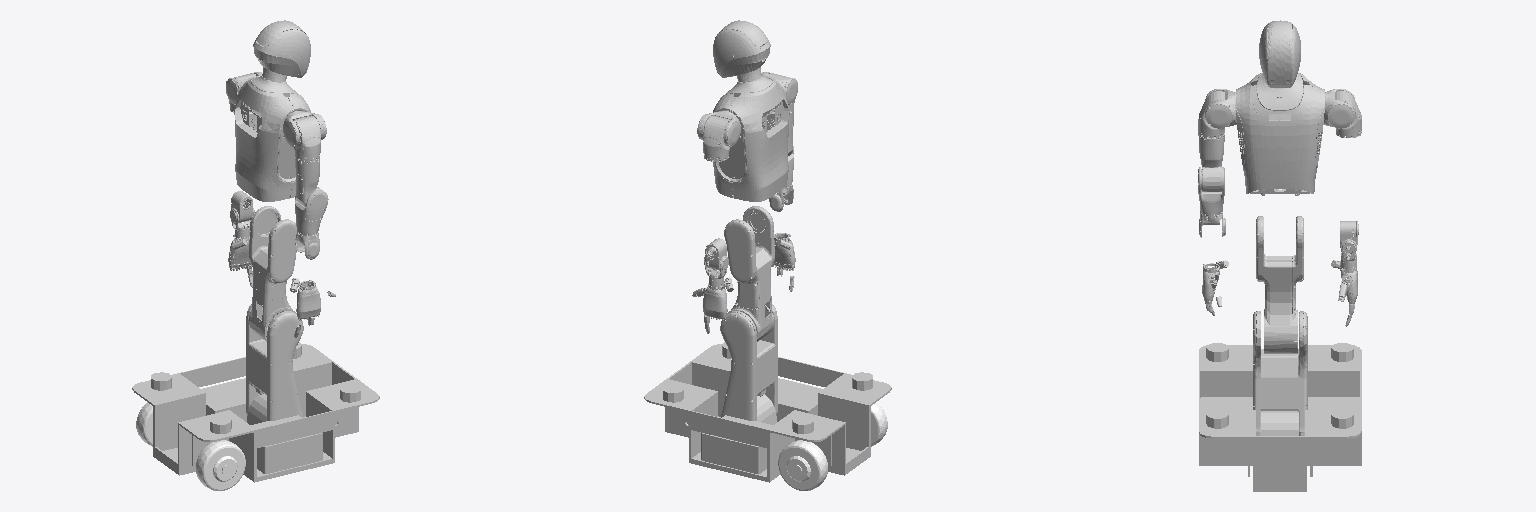
--- What the picture shows (computed from the rendered views, not written in the file) ---
The picture shows the robot from 3 angles, left to right: view 1: azimuth 30°, elevation 25°; view 2: azimuth 150°, elevation 25°; view 3: azimuth 270°, elevation 25°; orthographic projection.
Robot: M92UW — 91 links, 90 joints (44 revolute, 46 fixed); root link base_footprint; default pose: all joints at 0.
Visible links, largest first — view 1: base_link, trunk_link, ankle_p_link, knee_p_link, head2_p_link, rb_wheel_link, r_arm4_elbow_p_link, r_arm2_shoulder_r_link, r_arm3_shoulder_y_link, r_hand_palm_link, r_arm1_shoulder_p_link, lb_wheel_link; view 2: base_link, trunk_link, ankle_p_link, knee_p_link, head2_p_link, lb_wheel_link, l_arm2_shoulder_r_link, l_hand_palm_link, l_arm1_shoulder_p_link, r_hand_palm_link, rb_wheel_link; view 3: base_link, trunk_link, knee_p_link, ankle_p_link, head2_p_link, r_arm3_shoulder_y_link, r_arm1_shoulder_p_link, l_arm1_shoulder_p_link, r_arm4_elbow_p_link, l_arm2_shoulder_r_link, r_arm2_shoulder_r_link.
Boxes of the visible links, x1,y1,x2,y2 form: base_link: [132, 342, 379, 482]; trunk_link: [234, 76, 310, 201]; ankle_p_link: [246, 304, 303, 420]; knee_p_link: [249, 206, 296, 341]; head2_p_link: [253, 20, 310, 77]; rb_wheel_link: [196, 440, 245, 490]; r_arm4_elbow_p_link: [295, 190, 328, 235]; r_arm2_shoulder_r_link: [293, 115, 320, 161]; r_arm3_shoulder_y_link: [295, 158, 320, 207]; r_hand_palm_link: [296, 281, 320, 320]; r_arm1_shoulder_p_link: [283, 111, 326, 146]; lb_wheel_link: [136, 402, 152, 446]; base_link: [644, 342, 891, 482]; trunk_link: [713, 76, 789, 201]; ankle_p_link: [720, 304, 777, 420]; knee_p_link: [724, 206, 774, 341]; head2_p_link: [713, 20, 770, 77]; lb_wheel_link: [778, 440, 827, 490]; l_arm2_shoulder_r_link: [703, 116, 730, 161]; l_hand_palm_link: [703, 285, 727, 320]; l_arm1_shoulder_p_link: [697, 111, 740, 146]; r_hand_palm_link: [772, 233, 795, 270]; rb_wheel_link: [871, 402, 887, 446]; base_link: [1199, 343, 1361, 491]; trunk_link: [1236, 72, 1324, 195]; knee_p_link: [1256, 216, 1303, 353]; ankle_p_link: [1253, 311, 1307, 435]; head2_p_link: [1259, 20, 1300, 87]; r_arm3_shoulder_y_link: [1198, 134, 1224, 191]; r_arm1_shoulder_p_link: [1205, 89, 1236, 128]; l_arm1_shoulder_p_link: [1324, 89, 1354, 128]; r_arm4_elbow_p_link: [1198, 167, 1224, 215]; l_arm2_shoulder_r_link: [1335, 91, 1361, 137]; r_arm2_shoulder_r_link: [1198, 91, 1224, 138].
Bounding box of the posed robot: 0.8 × 0.6044 × 1.8 m (x, y, z).
Meshes: 57 distinct files referenced, 31 mesh visuals loaded (31 binary STL); not drawn: 26 (reference not matched to a file when rendering).

URDF robot description (M92UW):
<?xml version="1.0" ?>
<robot name="M92UW">
  <link name="base_footprint">
            </link>
  <joint name="base_footprint_fixed_joint" type="fixed">
    <parent link="base_footprint" />
    <child link="base_link" />
    <origin rpy="0 0 0" xyz="0 0 0.131" />
  </joint>
  <link name="base_link">
    <visual name="base_link_vis">
      <geometry>
        <mesh filename="../meshes/M92UW/visual/base_link.stl" scale="1e-3 1e-3 1e-3" />
      </geometry>
      <material name="metal">
        <color rgba="0.85 0.85 0.85 1" />
      </material>
    </visual>
    <collision name="base_link_col">
      <geometry>
        <mesh filename="../meshes/M92UW/collision/base_link.stl" scale="1e-3 1e-3 1e-3" />
      </geometry>
    </collision>
    <inertial>
      <origin rpy="0.0 0.0 0.0" xyz="0.013367658 0 -0.015095836" />
      <mass value="74.786285" />
      <inertia ixx="2.5701579" ixy="0" ixz="-0.015531692" iyy="2.4786102" iyz="0" izz="4.3899894" />
    </inertial>
  </link>
  <link name="lf_wheel_link">
    <visual name="lf_wheel_link_vis">
      <geometry>
        <mesh filename="../meshes/M92UW/visual/lf_wheel_link.stl" scale="1e-3 1e-3 1e-3" />
      </geometry>
      <material name="carbon">
        <color rgba="1 1 1 1" />
        <texture filename="package://human_description/textures/carbon.png" />
      </material>
    </visual>
    <collision name="lf_wheel_link_col">
      <geometry>
        <mesh filename="../meshes/M92UW/collision/lf_wheel_link.stl" scale="1e-3 1e-3 1e-3" />
      </geometry>
    </collision>
    <inertial>
      <origin rpy="0.0 0.0 0.0" xyz="0 0.10966209 0" />
      <mass value="1.1156517" />
      <inertia ixx="0.0030579042" ixy="0" ixz="0" iyy="0.0050380481" iyz="0" izz="0.0030579069" />
    </inertial>
  </link>
  <joint name="lf_wheel_joint" type="fixed">
    <parent link="base_link" />
    <child link="lf_wheel_link" />
    <origin rpy="0.0 0.0 0.0" xyz="0.29 0.12 -0.03" />
    <axis xyz="0 1 0" />
  </joint>
  <link name="lb_wheel_link">
    <visual name="lb_wheel_link_vis">
      <geometry>
        <mesh filename="../meshes/M92UW/visual/lb_wheel_link.stl" scale="1e-3 1e-3 1e-3" />
      </geometry>
      <material name="carbon">
        <color rgba="1 1 1 1" />
        <texture filename="package://human_description/textures/carbon.png" />
      </material>
    </visual>
    <collision name="lb_wheel_link_col">
      <geometry>
        <mesh filename="../meshes/M92UW/collision/lb_wheel_link.stl" scale="1e-3 1e-3 1e-3" />
      </geometry>
    </collision>
    <inertial>
      <origin rpy="0.0 0.0 0.0" xyz="0 0.10966209 0" />
      <mass value="1.1156517" />
      <inertia ixx="0.0030579042" ixy="0" ixz="0" iyy="0.0050380481" iyz="0" izz="0.0030579069" />
    </inertial>
  </link>
  <joint name="lb_wheel_joint" type="fixed">
    <parent link="base_link" />
    <child link="lb_wheel_link" />
    <origin rpy="0.0 0.0 0.0" xyz="-0.29 0.12 -0.03" />
    <axis xyz="0 1 0" />
  </joint>
  <link name="rf_wheel_link">
    <visual name="rf_wheel_link_vis">
      <geometry>
        <mesh filename="../meshes/M92UW/visual/rf_wheel_link.stl" scale="1e-3 1e-3 1e-3" />
      </geometry>
      <material name="carbon">
        <color rgba="1 1 1 1" />
        <texture filename="package://human_description/textures/carbon.png" />
      </material>
    </visual>
    <collision name="rf_wheel_link_col">
      <geometry>
        <mesh filename="../meshes/M92UW/collision/rf_wheel_link.stl" scale="1e-3 1e-3 1e-3" />
      </geometry>
    </collision>
    <inertial>
      <origin rpy="0.0 0.0 0.0" xyz="0 -0.10966209 0" />
      <mass value="1.1156517" />
      <inertia ixx="0.0030579042" ixy="0" ixz="0" iyy="0.0050380481" iyz="0" izz="0.0030579069" />
    </inertial>
  </link>
  <joint name="rf_wheel_joint" type="fixed">
    <parent link="base_link" />
    <child link="rf_wheel_link" />
    <origin rpy="0.0 0.0 0.0" xyz="0.29 -0.12 -0.03" />
    <axis xyz="0 1 0" />
  </joint>
  <link name="rb_wheel_link">
    <visual name="rb_wheel_link_vis">
      <geometry>
        <mesh filename="../meshes/M92UW/visual/rb_wheel_link.stl" scale="1e-3 1e-3 1e-3" />
      </geometry>
      <material name="carbon">
        <color rgba="1 1 1 1" />
        <texture filename="package://human_description/textures/carbon.png" />
      </material>
    </visual>
    <collision name="rb_wheel_link_col">
      <geometry>
        <mesh filename="../meshes/M92UW/collision/rb_wheel_link.stl" scale="1e-3 1e-3 1e-3" />
      </geometry>
    </collision>
    <inertial>
      <origin rpy="0.0 0.0 0.0" xyz="0 -0.10966209 0" />
      <mass value="1.1156517" />
      <inertia ixx="0.0030579042" ixy="0" ixz="0" iyy="0.0050380481" iyz="0" izz="0.0030579069" />
    </inertial>
  </link>
  <joint name="rb_wheel_joint" type="fixed">
    <parent link="base_link" />
    <child link="rb_wheel_link" />
    <origin rpy="0.0 0.0 0.0" xyz="-0.29 -0.12 -0.03" />
    <axis xyz="0 1 0" />
  </joint>
  <link name="ankle_p_link">
    <visual name="ankle_p_link_vis">
      <geometry>
        <mesh filename="../meshes/M92UW/visual/ankle_p_link.stl" scale="1e-3 1e-3 1e-3" />
      </geometry>
      <material name="metal">
        <color rgba="0.85 0.85 0.85 1" />
      </material>
    </visual>
    <collision name="ankle_p_link_col">
      <geometry>
        <mesh filename="../meshes/M92UW/collision/ankle_p_link.stl" scale="1e-3 1e-3 1e-3" />
      </geometry>
    </collision>
    <inertial>
      <origin rpy="0.0 0.0 0.0" xyz="0 0.00031353654 0.2" />
      <mass value="5.0014729" />
      <inertia ixx="0.12742424" ixy="0.0" ixz="0.0" iyy="0.11078527" iyz="0.0" izz="0.040523373" />
    </inertial>
  </link>
  <joint name="ankle_p_joint" type="revolute">
    <parent link="base_link" />
    <child link="ankle_p_link" />
    <origin rpy="0.0 0.0 0.0" xyz="0.085 0.0 0.0" />
    <axis xyz="0 1 0" />
    <limit effort="436.0" lower="-1.5707963267948966" upper="0.05235987755982988" velocity="2.51" />
    <safety_controller k_position="121.0" k_velocity="540.0" soft_lower_limit="-1.5184364492350666" soft_upper_limit="0.0" />
    <dynamics damping="3.48" friction="20.65" />
  </joint>
  <link name="knee_p_link">
    <visual name="knee_p_link_vis">
      <geometry>
        <mesh filename="../meshes/M92UW/visual/knee_p_link.stl" scale="1e-3 1e-3 1e-3" />
      </geometry>
      <material name="metal">
        <color rgba="0.85 0.85 0.85 1" />
      </material>
    </visual>
    <collision name="knee_p_link_col">
      <geometry>
        <mesh filename="../meshes/M92UW/collision/knee_p_link.stl" scale="1e-3 1e-3 1e-3" />
      </geometry>
    </collision>
    <inertial>
      <origin rpy="0.0 0.0 0.0" xyz="-0.00017250466 -5.7499427e-05 0.091520826" />
      <mass value="9.9995835" />
      <inertia ixx="0.17718143" ixy="3.3078853e-07" ixz="0.00019537528" iyy="0.17966307" iyz="6.5114089e-05" izz="0.038209575" />
    </inertial>
  </link>
  <joint name="knee_p_joint" type="revolute">
    <parent link="ankle_p_link" />
    <child link="knee_p_link" />
    <origin rpy="0.0 0.0 0.0" xyz="0.0 0.0 0.4" />
    <axis xyz="0 1 0" />
    <limit effort="436.0" lower="-0.05235987755982988" upper="2.7768188399229783" velocity="2.51" />
    <safety_controller k_position="121.0" k_velocity="540.0" soft_lower_limit="0.0" soft_upper_limit="2.724458962363148" />
    <dynamics damping="3.48" friction="20.65" />
  </joint>
  <ros2_control name="leg_system" type="system">
    <hardware>
      <plugin>fake_components/GenericSystem</plugin>
    </hardware>
    <joint name="ankle_p_joint">
      <param name="initial_position">0.0</param>
      <command_interface name="position" />
      <state_interface name="position">
        <param name="initial_value">0.0</param>
      </state_interface>
      <state_interface name="velocity" />
      <state_interface name="effort" />
    </joint>
    <transmission name="ankle_p_transmission">
      <plugin>transmission_interface/SimpleTransmission</plugin>
      <joint name="ankle_p_joint" role="joint1">
        <mechanical_reduction>1.0</mechanical_reduction>
        <offset>0</offset>
      </joint>
      <actuator name="ankle_p_actuator" role="actuator1">
        <mechanical_reduction>1.0</mechanical_reduction>
        <offset>0</offset>
      </actuator>
    </transmission>
    <joint name="knee_p_joint">
      <param name="initial_position">0.0</param>
      <command_interface name="position" />
      <state_interface name="position">
        <param name="initial_value">0.0</param>
      </state_interface>
      <state_interface name="velocity" />
      <state_interface name="effort" />
    </joint>
    <transmission name="knee_p_transmission">
      <plugin>transmission_interface/SimpleTransmission</plugin>
      <joint name="knee_p_joint" role="joint1">
        <mechanical_reduction>1.0</mechanical_reduction>
        <offset>0</offset>
      </joint>
      <actuator name="knee_p_actuator" role="actuator1">
        <mechanical_reduction>1.0</mechanical_reduction>
        <offset>0</offset>
      </actuator>
    </transmission>
  </ros2_control>
  <link name="waist1_p_link">
    <visual name="waist1_p_link_vis">
      <geometry>
        <mesh filename="../meshes/M92UW/visual/waist1_p_link.stl" scale="1e-3 1e-3 1e-3" />
      </geometry>
      <material name="metal">
        <color rgba="0.85 0.85 0.85 1" />
      </material>
    </visual>
    <collision name="waist1_p_link_col">
      <geometry>
        <mesh filename="../meshes/M92UW/collision/waist1_p_link.stl" scale="1e-3 1e-3 1e-3" />
      </geometry>
    </collision>
    <inertial>
      <origin rpy="0.0 0.0 0.0" xyz="0 0 0.057429778" />
      <mass value="6.3049221" />
      <inertia ixx="0.029907033" ixy="0" ixz="0" iyy="0.031745346" iyz="0" izz="0.012330906" />
    </inertial>
  </link>
  <joint name="waist1_p_joint" type="revolute">
    <parent link="knee_p_link" />
    <child link="waist1_p_link" />
    <origin rpy="0.0 0.0 0.0" xyz="0.0 0.0 0.4" />
    <axis xyz="0 1 0" />
    <limit effort="207.0" lower="-2.2689280275926285" upper="2.2689280275926285" velocity="3.14" />
    <safety_controller k_position="121.0" k_velocity="540.0" soft_lower_limit="-2.2165681500327987" soft_upper_limit="2.2165681500327987" />
    <dynamics damping="3.48" friction="20.65" />
  </joint>
  <link name="waist2_y_link">
    <visual name="waist2_y_link_vis">
      <geometry>
        <mesh filename="../meshes/M92UW/visual/waist2_y_link.stl" scale="1e-3 1e-3 1e-3" />
      </geometry>
      <material name="metal">
        <color rgba="0.85 0.85 0.85 1" />
      </material>
    </visual>
    <collision name="waist2_y_link_col">
      <geometry>
        <mesh filename="../meshes/M92UW/collision/waist2_y_link.stl" scale="1e-3 1e-3 1e-3" />
      </geometry>
    </collision>
    <inertial>
      <origin rpy="0.0 0.0 0.0" xyz="0 0 0.17307869" />
      <mass value="0.70904416" />
      <inertia ixx="0.0010443308" ixy="0" ixz="0" iyy="0.0010443307" iyz="0" izz="0.002054833" />
    </inertial>
  </link>
  <joint name="waist2_y_joint" type="revolute">
    <parent link="waist1_p_link" />
    <child link="waist2_y_link" />
    <origin rpy="0.0 0.0 0.0" xyz="0.0 0.0 0.0" />
    <axis xyz="0 0 1" />
    <limit effort="207.0" lower="-1.5707963267948966" upper="1.5707963267948966" velocity="3.14" />
    <safety_controller k_position="121.0" k_velocity="540.0" soft_lower_limit="-1.5184364492350666" soft_upper_limit="1.5184364492350666" />
    <dynamics damping="3.48" friction="20.65" />
  </joint>
  <link name="trunk_link">
    <visual name="trunk_link_vis">
      <geometry>
        <mesh filename="../meshes/M92UW/visual/trunk_link.stl" scale="1e-3 1e-3 1e-3" />
      </geometry>
      <material name="metal">
        <color rgba="0.85 0.85 0.85 1" />
      </material>
    </visual>
    <collision name="trunk_link_col">
      <geometry>
        <mesh filename="../meshes/M92UW/collision/trunk_link.stl" scale="1e-3 1e-3 1e-3" />
      </geometry>
    </collision>
    <inertial>
      <origin rpy="0.0 0.0 0.0" xyz="-0.0085487881 -9.606895e-06 -0.077759044" />
      <mass value="12.350557" />
      <inertia ixx="0.35316138" ixy="-1.0848429e-05" ixz="-0.010659045" iyy="0.26640983" iyz="8.9227842e-06" izz="0.20173237" />
    </inertial>
  </link>
  <joint name="trunk_fixed_joint" type="fixed">
    <parent link="waist2_y_link" />
    <child link="trunk_link" />
    <origin rpy="0.0 0.0 0.0" xyz="0.0 0.0 0.510000061" />
    <axis xyz="0 0 1" />
  </joint>
  <ros2_control name="waist_system" type="system">
    <hardware>
      <plugin>fake_components/GenericSystem</plugin>
    </hardware>
    <joint name="waist1_p_joint">
      <param name="initial_position">0.0</param>
      <command_interface name="position" />
      <state_interface name="position">
        <param name="initial_value">0.0</param>
      </state_interface>
      <state_interface name="velocity" />
      <state_interface name="effort" />
    </joint>
    <transmission name="waist1_p_transmission">
      <plugin>transmission_interface/SimpleTransmission</plugin>
      <joint name="waist1_p_joint" role="joint1">
        <mechanical_reduction>1.0</mechanical_reduction>
        <offset>0</offset>
      </joint>
      <actuator name="waist1_p_actuator" role="actuator1">
        <mechanical_reduction>1.0</mechanical_reduction>
        <offset>0</offset>
      </actuator>
    </transmission>
    <joint name="waist2_y_joint">
      <param name="initial_position">0.0</param>
      <command_interface name="position" />
      <state_interface name="position">
        <param name="initial_value">0.0</param>
      </state_interface>
      <state_interface name="velocity" />
      <state_interface name="effort" />
    </joint>
    <transmission name="waist2_y_transmission">
      <plugin>transmission_interface/SimpleTransmission</plugin>
      <joint name="waist2_y_joint" role="joint1">
        <mechanical_reduction>1.0</mechanical_reduction>
        <offset>0</offset>
      </joint>
      <actuator name="waist2_y_actuator" role="actuator1">
        <mechanical_reduction>1.0</mechanical_reduction>
        <offset>0</offset>
      </actuator>
    </transmission>
  </ros2_control>
  <link name="head1_y_link">
    <visual name="head1_y_link_vis">
      <geometry>
        <mesh filename="../meshes/M92UW/visual/head1_y_link.stl" scale="1e-3 1e-3 1e-3" />
      </geometry>
      <material name="metal">
        <color rgba="0.85 0.85 0.85 1" />
      </material>
    </visual>
    <collision name="head1_y_link_col">
      <geometry>
        <mesh filename="../meshes/M92UW/collision/head1_y_link.stl" scale="1e-3 1e-3 1e-3" />
      </geometry>
    </collision>
    <inertial>
      <origin rpy="0.0 0.0 0.0" xyz="0 0 0" />
      <mass value="0.9701721487615899" />
      <inertia ixx="0.002353602425794535" ixy="-1.5047554446877549e-06" ixz="9.720103999911807e-07" iyy="0.0023108930597505323" iyz="-5.8260809010239775e-05" izz="0.0008192659356165283" />
    </inertial>
  </link>
  <joint name="head1_y_joint" type="revolute">
    <parent link="trunk_link" />
    <child link="head1_y_link" />
    <origin rpy="0.0 0.227 0.0" xyz="0.00825076246 0.0 0.187487518331" />
    <axis xyz="0 0 1" />
    <limit effort="16.0" lower="-0.7853981633974483" upper="0.7853981633974483" velocity="6.0" />
    <safety_controller k_position="121.0" k_velocity="540.0" soft_lower_limit="-0.7330382858376184" soft_upper_limit="0.7330382858376184" />
    <dynamics damping="1.75" friction="1.48" />
  </joint>
  <link name="head2_p_link">
    <visual name="head2_p_link_vis">
      <geometry>
        <mesh filename="../meshes/M92UW/visual/head2_p_link.stl" scale="1e-3 1e-3 1e-3" />
      </geometry>
      <material name="metal">
        <color rgba="0.85 0.85 0.85 1" />
      </material>
    </visual>
    <collision name="head2_p_link_col">
      <geometry>
        <mesh filename="../meshes/M92UW/collision/head2_p_link.stl" scale="1e-3 1e-3 1e-3" />
      </geometry>
    </collision>
    <inertial>
      <origin rpy="0.0 0.0 0.0" xyz="0.023983628 -3.4088057e-05 0.060004983" />
      <mass value="1.4412722" />
      <inertia ixx="0.0051107798" ixy="-5.4733507e-05" ixz="0.001174679" iyy="0.0074364813" iyz="3.6514141e-05" izz="0.0066131559" />
    </inertial>
  </link>
  <joint name="head2_p_joint" type="revolute">
    <parent link="head1_y_link" />
    <child link="head2_p_link" />
    <origin rpy="0.0 0.0 0.0" xyz="0.0 0.0 0.0" />
    <axis xyz="0 1 0" />
    <limit effort="15.0" lower="-0.3490658503988659" upper="0.2617993877991494" velocity="8.0" />
    <safety_controller k_position="121.0" k_velocity="540.0" soft_lower_limit="-0.29670597283903605" soft_upper_limit="0.20943951023931953" />
    <dynamics damping="1.75" friction="1.48" />
  </joint>
  <link name="head_front_left_fishye_color_frame" />
  <joint name="head_front_left_fishye_color_joint" type="fixed">
    <parent link="head2_p_link" />
    <child link="head_front_left_fishye_color_frame" />
    <origin rpy="0.0 0.034906558 0.0" xyz="0.11560924285 0.03 0.001949777401" />
    <axis xyz="0 0 1" />
  </joint>
  <link name="head_front_left_fishye_color_optical_frame" />
  <joint name="head_front_left_fishye_color_optical_joint" type="fixed">
    <parent link="head_front_left_fishye_color_frame" />
    <child link="head_front_left_fishye_color_optical_frame" />
    <origin rpy="-1.5707963267948966 0.0 -1.5707963267948966" xyz="0.0 0.0 0.0" />
    <axis xyz="0 0 1" />
  </joint>
  <link name="head_front_right_fishye_color_frame" />
  <joint name="head_front_right_fishye_color_joint" type="fixed">
    <parent link="head2_p_link" />
    <child link="head_front_right_fishye_color_frame" />
    <origin rpy="0.0 0.034906558 0.0" xyz="0.11560924285 -0.03 0.001949777401" />
    <axis xyz="0 0 1" />
  </joint>
  <link name="head_front_right_fishye_color_optical_frame" />
  <joint name="head_front_right_fishye_color_optical_joint" type="fixed">
    <parent link="head_front_right_fishye_color_frame" />
    <child link="head_front_right_fishye_color_optical_frame" />
    <origin rpy="-1.5707963267948966 0.0 -1.5707963267948966" xyz="0.0 0.0 0.0" />
    <axis xyz="0 0 1" />
  </joint>
  <link name="head_left_fishye_color_frame" />
  <joint name="head_left_fishye_color_joint" type="fixed">
    <parent link="head2_p_link" />
    <child link="head_left_fishye_color_frame" />
    <origin rpy="-0.22689279888888889 0.0 1.5707963" xyz="8e-05 0.079054996528 0.068" />
    <axis xyz="0 0 1" />
  </joint>
  <link name="head_left_fishye_color_optical_frame" />
  <joint name="head_left_fishye_color_optical_joint" type="fixed">
    <parent link="head_left_fishye_color_frame" />
    <child link="head_left_fishye_color_optical_frame" />
    <origin rpy="-1.5707963267948966 0.0 -1.5707963267948966" xyz="0.0 0.0 0.0" />
    <axis xyz="0 0 1" />
  </joint>
  <link name="head_right_fishye_color_frame" />
  <joint name="head_right_fishye_color_joint" type="fixed">
    <parent link="head2_p_link" />
    <child link="head_right_fishye_color_frame" />
    <origin rpy="0.22689279888888889 0.0 -1.5707963" xyz="8e-05 -0.079054996528 0.068" />
    <axis xyz="0 0 1" />
  </joint>
  <link name="head_right_fishye_color_optical_frame" />
  <joint name="head_right_fishye_color_optical_joint" type="fixed">
    <parent link="head_right_fishye_color_frame" />
    <child link="head_right_fishye_color_optical_frame" />
    <origin rpy="-1.5707963267948966 0.0 -1.5707963267948966" xyz="0.0 0.0 0.0" />
    <axis xyz="0 0 1" />
  </joint>
  <link name="head_imu_frame" />
  <joint name="head_imu_joint" type="fixed">
    <parent link="head2_p_link" />
    <child link="head_imu_frame" />
    <origin rpy="-1.5707963 0.0 -1.5707963" xyz="0.10135 0.030741428 0.045873980003" />
    <axis xyz="0 0 1" />
  </joint>
  <link name="head_realsense_frame" />
  <joint name="head_realsense_joint" type="fixed">
    <parent link="head2_p_link" />
    <child link="head_realsense_frame" />
    <origin rpy="0.0 0.6108652277777777 0.0" xyz="0.087368495194 0.0 -0.027541394905" />
    <axis xyz="0 0 1" />
  </joint>
  <sensor id="head_imu" name="head_imu" type="imu" update_rate="100.0">
    <parent link="head_imu_frame" />
    <origin rpy="0 0 0" xyz="0 0 0" />
  </sensor>
  
  <joint name="head_camera_joint" type="fixed">
    <origin rpy="0 0 0" xyz="0 0 0" />
    <parent link="head_realsense_frame" />
    <child link="head_camera_bottom_screw_frame" />
  </joint>
  <link name="head_camera_bottom_screw_frame" />
  <joint name="head_camera_link_joint" type="fixed">
    <origin rpy="0 0 0" xyz="0.010600000000000002 0.0175 0.0125" />
    <parent link="head_camera_bottom_screw_frame" />
    <child link="head_camera_link" />
  </joint>
  <link name="head_camera_link">
    <visual name="head_camera_link_vis">
      
      <origin rpy="0 0 0" xyz="0.0043 -0.0175 0" />
      <geometry>
        <mesh filename="../meshes/camera/d435.stl" />
      </geometry>
      <material name="aluminum">
        <color rgba="0.5 0.5 0.5 1" />
      </material>
    </visual>
    <collision name="head_camera_link_col">
      <origin rpy="0 0 0" xyz="-0.0043 -0.0175 0" />
      <geometry>
        <box size="0.02505 0.09 0.025" />
      </geometry>
    </collision>
    <inertial>
      
      <mass value="0.072" />
      <origin rpy="0 0 0" xyz="-0.0043 -0.0175 0" />
      <inertia ixx="4.41106250E-05" ixy="2.63787168E-07" ixz="2.62460083E-08" iyy="6.59575833E-06" iyz="-3.13712429E-09" izz="4.44598902E-05" />
    </inertial>
  </link>
  
  <joint name="head_camera_depth_joint" type="fixed">
    <origin rpy="0 0 0" xyz="0 0 0" />
    <parent link="head_camera_link" />
    <child link="head_camera_depth_frame" />
  </joint>
  <link name="head_camera_depth_frame" />
  <joint name="head_camera_depth_optical_joint" type="fixed">
    <origin rpy="-1.5707963267948966 0 -1.5707963267948966" xyz="0 0 0" />
    <parent link="head_camera_depth_frame" />
    <child link="head_camera_depth_optical_frame" />
  </joint>
  <link name="head_camera_depth_optical_frame" />
  
  <joint name="head_camera_infra1_joint" type="fixed">
    <origin rpy="0 0 0" xyz="0 0.0 0" />
    <parent link="head_camera_link" />
    <child link="head_camera_infra1_frame" />
  </joint>
  <link name="head_camera_infra1_frame" />
  <joint name="head_camera_infra1_optical_joint" type="fixed">
    <origin rpy="-1.5707963267948966 0 -1.5707963267948966" xyz="0 0 0" />
    <parent link="head_camera_infra1_frame" />
    <child link="head_camera_infra1_optical_frame" />
  </joint>
  <link name="head_camera_infra1_optical_frame" />
  
  <joint name="head_camera_infra2_joint" type="fixed">
    <origin rpy="0 0 0" xyz="0 -0.05 0" />
    <parent link="head_camera_link" />
    <child link="head_camera_infra2_frame" />
  </joint>
  <link name="head_camera_infra2_frame" />
  <joint name="head_camera_infra2_optical_joint" type="fixed">
    <origin rpy="-1.5707963267948966 0 -1.5707963267948966" xyz="0 0 0" />
    <parent link="head_camera_infra2_frame" />
    <child link="head_camera_infra2_optical_frame" />
  </joint>
  <link name="head_camera_infra2_optical_frame" />
  
  <joint name="head_camera_color_joint" type="fixed">
    <origin rpy="0 0 0" xyz="0 0.015 0" />
    <parent link="head_camera_link" />
    <child link="head_camera_color_frame" />
  </joint>
  <link name="head_camera_color_frame" />
  <joint name="head_camera_color_optical_joint" type="fixed">
    <origin rpy="-1.5707963267948966 0 -1.5707963267948966" xyz="0 0 0" />
    <parent link="head_camera_color_frame" />
    <child link="head_camera_color_optical_frame" />
  </joint>
  <link name="head_camera_color_optical_frame" />
  <link name="head_camera_accel_frame" />
  <link name="head_camera_accel_optical_frame" />
  <link name="head_camera_gyro_frame" />
  <link name="head_camera_gyro_optical_frame" />
  <joint name="head_camera_accel_joint" type="fixed">
    <origin rpy="0 0 0" xyz="-0.01174 -0.00552 0.0051" />
    <parent link="head_camera_link" />
    <child link="head_camera_accel_frame" />
  </joint>
  <joint name="head_camera_accel_optical_joint" type="fixed">
    <origin rpy="-1.5707963267948966 0 -1.5707963267948966" xyz="0 0 0" />
    <parent link="head_camera_accel_frame" />
    <child link="head_camera_accel_optical_frame" />
  </joint>
  <joint name="head_camera_gyro_joint" type="fixed">
    <origin rpy="0 0 0" xyz="-0.01174 -0.00552 0.0051" />
    <parent link="head_camera_link" />
    <child link="head_camera_gyro_frame" />
  </joint>
  <joint name="head_camera_gyro_optical_joint" type="fixed">
    <origin rpy="-1.5707963267948966 0 -1.5707963267948966" xyz="0 0 0" />
    <parent link="head_camera_gyro_frame" />
    <child link="head_camera_gyro_optical_frame" />
  </joint>
  <ros2_control name="head_system" type="system">
    <hardware>
      <plugin>fake_components/GenericSystem</plugin>
    </hardware>
    <joint name="head1_y_joint">
      <param name="initial_position">0.0</param>
      <command_interface name="position" />
      <state_interface name="position">
        <param name="initial_value">0.0</param>
      </state_interface>
      <state_interface name="velocity" />
      <state_interface name="effort" />
    </joint>
    <transmission name="head1_y_transmission">
      <plugin>transmission_interface/SimpleTransmission</plugin>
      <joint name="head1_y_joint" role="joint1">
        <mechanical_reduction>1.0</mechanical_reduction>
        <offset>0</offset>
      </joint>
      <actuator name="head1_y_actuator" role="actuator1">
        <mechanical_reduction>1.0</mechanical_reduction>
        <offset>0</offset>
      </actuator>
    </transmission>
    <joint name="head2_p_joint">
      <param name="initial_position">0.0</param>
      <command_interface name="position" />
      <state_interface name="position">
        <param name="initial_value">0.0</param>
      </state_interface>
      <state_interface name="velocity" />
      <state_interface name="effort" />
    </joint>
    <transmission name="head2_p_transmission">
      <plugin>transmission_interface/SimpleTransmission</plugin>
      <joint name="head2_p_joint" role="joint1">
        <mechanical_reduction>1.0</mechanical_reduction>
        <offset>0</offset>
      </joint>
      <actuator name="head2_p_actuator" role="actuator1">
        <mechanical_reduction>1.0</mechanical_reduction>
        <offset>0</offset>
      </actuator>
    </transmission>
    <sensor name="head_imu">
      <state_interface name="orientation.x" />
      <state_interface name="orientation.y" />
      <state_interface name="orientation.z" />
      <state_interface name="orientation.w" />
      <state_interface name="angular_velocity.x" />
      <state_interface name="angular_velocity.y" />
      <state_interface name="angular_velocity.z" />
      <state_interface name="linear_acceleration.x" />
      <state_interface name="linear_acceleration.y" />
      <state_interface name="linear_acceleration.z" />
      <param name="frame_id">head_imu_frame</param>
      <param name="gyro_sensor">head_imu_gyro</param>
      <param name="accelerometer_sensor">head_imu_accelerometer</param>
      <param name="quaternion_sensor">head_imu_quaternion</param>
      <param name="sensor_type">imu</param>
    </sensor>
  </ros2_control>
  <link name="l_arm1_shoulder_p_link">
    <visual name="l_arm1_shoulder_p_link_vis">
      <geometry>
        <mesh filename="../meshes/M92UW/visual/l_arm1_shoulder_p_link.stl" scale="1e-3 1e-3 1e-3" />
      </geometry>
      <material name="metal">
        <color rgba="0.85 0.85 0.85 1" />
      </material>
    </visual>
    <collision name="l_arm1_shoulder_p_link_col">
      <geometry>
        <mesh filename="../meshes/M92UW/collision/l_arm1_shoulder_p_link.stl" scale="1e-3 1e-3 1e-3" />
      </geometry>
    </collision>
    <inertial>
      <origin rpy="0.0 0.0 0.0" xyz="0.008950692823963513 -0.007910244340673698 0.001047817615140858" />
      <mass value="2.347873199255413" />
      <inertia ixx="0.00371805577636075" ixy="-0.00020375534708451775" ixz="3.609106173368525e-05" iyy="0.004459283172641818" iyz="5.624647211110556e-05" izz="0.004925669991342847" />
    </inertial>
  </link>
  <joint name="l_arm1_shoulder_p_joint" type="revolute">
    <parent link="trunk_link" />
    <child link="l_arm1_shoulder_p_link" />
    <origin rpy="0.0 0.0 0.0" xyz="0.0 0.225 0.0" />
    <axis xyz="0 1 0" />
    <limit effort="107.0" lower="-3.141592653589793" upper="1.0000736613927508" velocity="3.9" />
    <safety_controller k_position="121.0" k_velocity="540.0" soft_lower_limit="-3.0892327760299634" soft_upper_limit="0.9477137838329208" />
    <dynamics damping="3.48" friction="1.65" />
  </joint>
  <link name="l_arm2_shoulder_r_link">
    <visual name="l_arm2_shoulder_r_link_vis">
      <geometry>
        <mesh filename="../meshes/M92UW/visual/l_arm2_shoulder_r_link.stl" scale="1e-3 1e-3 1e-3" />
      </geometry>
      <material name="metal">
        <color rgba="0.85 0.85 0.85 1" />
      </material>
    </visual>
    <collision name="l_arm2_shoulder_r_link_col">
      <geometry>
        <mesh filename="../meshes/M92UW/collision/l_arm2_shoulder_r_link.stl" scale="1e-3 1e-3 1e-3" />
      </geometry>
    </collision>
    <inertial>
      <origin rpy="0.0 0.0 0.0" xyz="0.00036305191629661246 0.011843042908443239 -0.03652190992211854" />
      <mass value="0.752587840927864" />
      <inertia ixx="0.0026036114569122793" ixy="8.592053527867745e-06" ixz="1.6856075010420394e-05" iyy="0.0024594847856526784" iyz="0.0002802648051565737" izz="0.0016631005538151674" />
    </inertial>
  </link>
  <joint name="l_arm2_shoulder_r_joint" type="revolute">
    <parent link="l_arm1_shoulder_p_link" />
    <child link="l_arm2_shoulder_r_link" />
    <origin rpy="0.0 0.0 0.0" xyz="0.0 0.0 0.0" />
    <axis xyz="1 0 0" />
    <limit effort="107.0" lower="-0.5235987755982988" upper="1.5707963267948966" velocity="3.9" />
    <safety_controller k_position="121.0" k_velocity="540.0" soft_lower_limit="-0.47123889803846897" soft_upper_limit="1.5184364492350666" />
    <dynamics damping="3.48" friction="1.65" />
  </joint>
  <link name="l_arm3_shoulder_y_link">
    <visual name="l_arm3_shoulder_y_link_vis">
      <geometry>
        <mesh filename="../meshes/M92UW/visual/l_arm3_shoulder_y_link.stl" scale="1e-3 1e-3 1e-3" />
      </geometry>
      <material name="metal">
        <color rgba="0.85 0.85 0.85 1" />
      </material>
    </visual>
    <collision name="l_arm3_shoulder_y_link_col">
      <geometry>
        <mesh filename="../meshes/M92UW/collision/l_arm3_shoulder_y_link.stl" scale="1e-3 1e-3 1e-3" />
      </geometry>
    </collision>
    <inertial>
      <origin rpy="0.0 0.0 0.0" xyz="0.009483721082429376 0.0009283823410288751 0.07220283077817466" />
      <mass value="2.8032226973946757" />
      <inertia ixx="0.01709273409680172" ixy="-3.1041493444281146e-05" ixz="0.0018537887840343332" iyy="0.017612642148909542" iyz="0.00017830759281331393" izz="0.003132408910489035" />
    </inertial>
  </link>
  <joint name="l_arm3_shoulder_y_joint" type="revolute">
    <parent link="l_arm2_shoulder_r_link" />
    <child link="l_arm3_shoulder_y_link" />
    <origin rpy="0.0 0.0 0.0" xyz="0.0 0.0275 -0.28" />
    <axis xyz="0 0 1" />
    <limit effort="70.0" lower="-3.139847324337799" upper="3.139847324337799" velocity="3.8" />
    <safety_controller k_position="121.0" k_velocity="540.0" soft_lower_limit="-3.087487446777969" soft_upper_limit="3.087487446777969" />
    <dynamics damping="3.48" friction="1.65" />
  </joint>
  <link name="l_arm4_elbow_p_link">
    <visual name="l_arm4_elbow_p_link_vis">
      <geometry>
        <mesh filename="../meshes/M92UW/visual/l_arm4_elbow_p_link.stl" scale="1e-3 1e-3 1e-3" />
      </geometry>
      <material name="metal">
        <color rgba="0.85 0.85 0.85 1" />
      </material>
    </visual>
    <collision name="l_arm4_elbow_p_link_col">
      <geometry>
        <mesh filename="../meshes/M92UW/collision/l_arm4_elbow_p_link.stl" scale="1e-3 1e-3 1e-3" />
      </geometry>
    </collision>
    <inertial>
      <origin rpy="0.0 0.0 0.0" xyz="-0.016878859016134812 -0.002424599482891291 -0.08347296858171128" />
      <mass value="1.4951436605879314" />
      <inertia ixx="0.004293550118219109" ixy="4.3192250569185595e-05" ixz="-0.0003401699176851234" iyy="0.004009022454595748" iyz="0.00022976670691615358" izz="0.0019433761729977456" />
    </inertial>
  </link>
  <joint name="l_arm4_elbow_p_joint" type="revolute">
    <parent link="l_arm3_shoulder_y_link" />
    <child link="l_arm4_elbow_p_link" />
    <origin rpy="0.0 0.0 0.0" xyz="0.02 0.0 0.0" />
    <axis xyz="0 1 0" />
    <limit effort="70.0" lower="-2.6162485487394997" upper="0.05235987755982988" velocity="3.8" />
    <safety_controller k_position="121.0" k_velocity="540.0" soft_lower_limit="-2.5638886711796705" soft_upper_limit="0.0" />
    <dynamics damping="3.48" friction="1.65" />
  </joint>
  <link name="l_arm5_wrist_y_link">
    <visual name="l_arm5_wrist_y_link_vis">
      <geometry>
        <mesh filename="../meshes/M92UW/visual/l_arm5_wrist_y_link.stl" scale="1e-3 1e-3 1e-3" />
      </geometry>
      <material name="metal">
        <color rgba="0.85 0.85 0.85 1" />
      </material>
    </visual>
    <collision name="l_arm5_wrist_y_link_col">
      <geometry>
        <mesh filename="../meshes/M92UW/collision/l_arm5_wrist_y_link.stl" scale="1e-3 1e-3 1e-3" />
      </geometry>
    </collision>
    <inertial>
      <origin rpy="0.0 0.0 0.0" xyz="1.0105403425632446e-05 -0.0007920766777345156 0.033467755020747975" />
      <mass value="0.27226645693469925" />
      <inertia ixx="0.00042677981237483024" ixy="1.5635914930696041e-07" ixz="-8.511440415016232e-08" iyy="0.00029281147887157377" iyz="-2.9845719981923703e-05" izz="0.0003716353641820523" />
    </inertial>
  </link>
  <joint name="l_arm5_wrist_y_joint" type="revolute">
    <parent link="l_arm4_elbow_p_link" />
    <child link="l_arm5_wrist_y_link" />
    <origin rpy="0.0 0.0 0.0" xyz="-0.02 0.0 -0.213" />
    <axis xyz="0 0 1" />
    <limit effort="36.0" lower="-3.141592653589793" upper="3.141592653589793" velocity="4.3" />
    <safety_controller k_position="121.0" k_velocity="540.0" soft_lower_limit="-3.0892327760299634" soft_upper_limit="3.0892327760299634" />
    <dynamics damping="3.48" friction="1.65" />
  </joint>
  <link name="l_arm6_wrist_p_link">
    <visual name="l_arm6_wrist_p_link_vis">
      <geometry>
        <mesh filename="../meshes/M92UW/visual/l_arm6_wrist_p_link.stl" scale="1e-3 1e-3 1e-3" />
      </geometry>
      <material name="metal">
        <color rgba="0.85 0.85 0.85 1" />
      </material>
    </visual>
    <collision name="l_arm6_wrist_p_link_col">
      <geometry>
        <mesh filename="../meshes/M92UW/collision/l_arm6_wrist_p_link.stl" scale="1e-3 1e-3 1e-3" />
      </geometry>
    </collision>
    <inertial>
      <origin rpy="0.0 0.0 0.0" xyz="-0.0023977486620611805 0.0032941533904827926 -0.02747107099422101" />
      <mass value="0.8769025437478114" />
      <inertia ixx="0.0011344037552627772" ixy="-5.74262388435353e-06" ixz="-5.7053004228770495e-05" iyy="0.0011212906698454524" iyz="-8.099881421779838e-05" izz="0.0005394058553208015" />
    </inertial>
  </link>
  <joint name="l_arm6_wrist_p_joint" type="revolute">
    <parent link="l_arm5_wrist_y_link" />
    <child link="l_arm6_wrist_p_link" />
    <origin rpy="0.0 0.0 0.0" xyz="0.0 0.0 0.0" />
    <axis xyz="0 1 0" />
    <limit effort="15.0" lower="-1.3962634015954636" upper="1.3962634015954636" velocity="7.7" />
    <safety_controller k_position="121.0" k_velocity="540.0" soft_lower_limit="-1.3439035240356338" soft_upper_limit="1.3439035240356338" />
    <dynamics damping="3.48" friction="1.65" />
  </joint>
  <link name="l_arm7_wrist_r_link">
    <visual name="l_arm7_wrist_r_link_vis">
      <geometry>
        <mesh filename="../meshes/M92UW/visual/l_arm7_wrist_r_link.stl" scale="1e-3 1e-3 1e-3" />
      </geometry>
      <material name="metal">
        <color rgba="0.85 0.85 0.85 1" />
      </material>
    </visual>
    <collision name="l_arm7_wrist_r_link_col">
      <geometry>
        <mesh filename="../meshes/M92UW/collision/l_arm7_wrist_r_link.stl" scale="1e-3 1e-3 1e-3" />
      </geometry>
    </collision>
    <inertial>
      <origin rpy="0.0 0.0 0.0" xyz="0.005628948451189553 -0.0002631286864539303 -0.13713379318786653" />
      <mass value="1.1182834022922525" />
      <inertia ixx="0.00054013059" ixy="-3.4201381e-06" ixz="1.2981479e-05" iyy="0.00040641427" iyz="-1.619246e-05" izz="0.0002867356" />
    </inertial>
  </link>
  <joint name="l_arm7_wrist_r_joint" type="revolute">
    <parent link="l_arm6_wrist_p_link" />
    <child link="l_arm7_wrist_r_link" />
    <origin rpy="0.0 0.0 0.0" xyz="0.0 0.0 -0.055" />
    <axis xyz="1 0 0" />
    <limit effort="15.0" lower="-1.3962634015954636" upper="1.3962634015954636" velocity="7.7" />
    <safety_controller k_position="121.0" k_velocity="540.0" soft_lower_limit="-1.3439035240356338" soft_upper_limit="1.3439035240356338" />
    <dynamics damping="3.48" friction="1.65" />
  </joint>
  <link name="l_arm_force_sensor_link">
    <visual name="l_arm_force_sensor_link_vis">
      <geometry>
        <mesh filename="../meshes/M92UW/visual/l_arm_force_sensor_link.stl" scale="1e-3 1e-3 1e-3" />
      </geometry>
      <material name="metal">
        <color rgba="0.85 0.85 0.85 1" />
      </material>
    </visual>
    <collision name="l_arm_force_sensor_link_col">
      <geometry>
        <mesh filename="../meshes/M92UW/collision/l_arm_force_sensor_link.stl" scale="1e-3 1e-3 1e-3" />
      </geometry>
    </collision>
    <inertial>
      <origin rpy="0.0 0.0 0.0" xyz="-3.6099554e-06 0.00010782379 -0.01796209" />
      <mass value="0.18791729" />
      <inertia ixx="6.7718362e-05" ixy="-8.1094726e-09" ixz="-1.4043436e-08" iyy="6.769248e-05" iyz="-8.3150825e-08" izz="9.1033288e-05" />
    </inertial>
  </link>
  <joint name="l_arm_force_sensor_fixed_joint" type="fixed">
    <parent link="l_arm7_wrist_r_link" />
    <child link="l_arm_force_sensor_link" />
    <origin rpy="0.0 0.0 0.0" xyz="0.0 0.0 -0.06" />
    <axis xyz="0 0 1" />
  </joint>
  <sensor id="l_arm_force_torque" name="l_arm_fts" type="force_torque" update_rate="100.0">
    <parent link="l_arm_force_sensor_link" />
    <origin rpy="0 0 0" xyz="0 0 0" />
    <force_torque frame="l_arm_force_torque" measure_direction="force torque sensor" />
  </sensor>
  <link name="l_end_effector_frame" />
  <joint name="l_end_effector_fixed_joint" type="fixed">
    <parent link="l_arm_force_sensor_link" />
    <child link="l_end_effector_frame" />
    <origin rpy="0 1.5707963 0" xyz="0 0 -0.1784999" />
    <axis xyz="0 0 1" />
  </joint>
  <ros2_control name="l_arm_system" type="system">
    <hardware>
      <plugin>fake_components/GenericSystem</plugin>
    </hardware>
    <joint name="l_arm1_shoulder_p_joint">
      <param name="initial_position">0.0</param>
      <command_interface name="position" />
      <state_interface name="position">
        <param name="initial_value">0.0</param>
      </state_interface>
      <state_interface name="velocity" />
      <state_interface name="effort" />
    </joint>
    <transmission name="l_arm1_shoulder_p_transmission">
      <plugin>transmission_interface/SimpleTransmission</plugin>
      <joint name="l_arm1_shoulder_p_joint" role="joint1">
        <mechanical_reduction>1.0</mechanical_reduction>
        <offset>0</offset>
      </joint>
      <actuator name="l_arm1_shoulder_p_actuator" role="actuator1">
        <mechanical_reduction>1.0</mechanical_reduction>
        <offset>0</offset>
      </actuator>
    </transmission>
    <joint name="l_arm2_shoulder_r_joint">
      <param name="initial_position">0.0</param>
      <command_interface name="position" />
      <state_interface name="position">
        <param name="initial_value">0.0</param>
      </state_interface>
      <state_interface name="velocity" />
      <state_interface name="effort" />
    </joint>
    <transmission name="l_arm2_shoulder_r_transmission">
      <plugin>transmission_interface/SimpleTransmission</plugin>
      <joint name="l_arm2_shoulder_r_joint" role="joint1">
        <mechanical_reduction>1.0</mechanical_reduction>
        <offset>0</offset>
      </joint>
      <actuator name="l_arm2_shoulder_r_actuator" role="actuator1">
        <mechanical_reduction>1.0</mechanical_reduction>
        <offset>0</offset>
      </actuator>
    </transmission>
    <joint name="l_arm3_shoulder_y_joint">
      <param name="initial_position">0.0</param>
      <command_interface name="position" />
      <state_interface name="position">
        <param name="initial_value">0.0</param>
      </state_interface>
      <state_interface name="velocity" />
      <state_interface name="effort" />
    </joint>
    <transmission name="l_arm3_shoulder_y_transmission">
      <plugin>transmission_interface/SimpleTransmission</plugin>
      <joint name="l_arm3_shoulder_y_joint" role="joint1">
        <mechanical_reduction>1.0</mechanical_reduction>
        <offset>0</offset>
      </joint>
      <actuator name="l_arm3_shoulder_y_actuator" role="actuator1">
        <mechanical_reduction>1.0</mechanical_reduction>
        <offset>0</offset>
      </actuator>
    </transmission>
    <joint name="l_arm4_elbow_p_joint">
      <param name="initial_position">0.0</param>
      <command_interface name="position" />
      <state_interface name="position">
        <param name="initial_value">0.0</param>
      </state_interface>
      <state_interface name="velocity" />
      <state_interface name="effort" />
    </joint>
    <transmission name="l_arm4_elbow_p_transmission">
      <plugin>transmission_interface/SimpleTransmission</plugin>
      <joint name="l_arm4_elbow_p_joint" role="joint1">
        <mechanical_reduction>1.0</mechanical_reduction>
        <offset>0</offset>
      </joint>
      <actuator name="l_arm4_elbow_p_actuator" role="actuator1">
        <mechanical_reduction>1.0</mechanical_reduction>
        <offset>0</offset>
      </actuator>
    </transmission>
    <joint name="l_arm5_wrist_y_joint">
      <param name="initial_position">0.0</param>
      <command_interface name="position" />
      <state_interface name="position">
        <param name="initial_value">0.0</param>
      </state_interface>
      <state_interface name="velocity" />
      <state_interface name="effort" />
    </joint>
    <transmission name="l_arm5_wrist_y_transmission">
      <plugin>transmission_interface/SimpleTransmission</plugin>
      <joint name="l_arm5_wrist_y_joint" role="joint1">
        <mechanical_reduction>1.0</mechanical_reduction>
        <offset>0</offset>
      </joint>
      <actuator name="l_arm5_wrist_y_actuator" role="actuator1">
        <mechanical_reduction>1.0</mechanical_reduction>
        <offset>0</offset>
      </actuator>
    </transmission>
    <joint name="l_arm6_wrist_p_joint">
      <param name="initial_position">0.0</param>
      <command_interface name="position" />
      <state_interface name="position">
        <param name="initial_value">0.0</param>
      </state_interface>
      <state_interface name="velocity" />
      <state_interface name="effort" />
    </joint>
    <transmission name="l_arm6_wrist_p_transmission">
      <plugin>transmission_interface/SimpleTransmission</plugin>
      <joint name="l_arm6_wrist_p_joint" role="joint1">
        <mechanical_reduction>1.0</mechanical_reduction>
        <offset>0</offset>
      </joint>
      <actuator name="l_arm6_wrist_p_actuator" role="actuator1">
        <mechanical_reduction>1.0</mechanical_reduction>
        <offset>0</offset>
      </actuator>
    </transmission>
    <joint name="l_arm7_wrist_r_joint">
      <param name="initial_position">0.0</param>
      <command_interface name="position" />
      <state_interface name="position">
        <param name="initial_value">0.0</param>
      </state_interface>
      <state_interface name="velocity" />
      <state_interface name="effort" />
    </joint>
    <transmission name="l_arm7_wrist_r_transmission">
      <plugin>transmission_interface/SimpleTransmission</plugin>
      <joint name="l_arm7_wrist_r_joint" role="joint1">
        <mechanical_reduction>1.0</mechanical_reduction>
        <offset>0</offset>
      </joint>
      <actuator name="l_arm7_wrist_r_actuator" role="actuator1">
        <mechanical_reduction>1.0</mechanical_reduction>
        <offset>0</offset>
      </actuator>
    </transmission>
    <sensor name="l_arm_fts">
      <state_interface name="force.x" />
      <state_interface name="force.y" />
      <state_interface name="force.z" />
      <state_interface name="torque.x" />
      <state_interface name="torque.y" />
      <state_interface name="torque.z" />
      <param name="frame_id">l_arm_force_sensor_link</param>
      <param name="fx_range">100</param>
      <param name="fy_range">100</param>
      <param name="fz_range">100</param>
      <param name="tx_range">15</param>
      <param name="ty_range">15</param>
      <param name="tz_range">15</param>
      <param name="force_sensor">l_arm_fts_force</param>
      <param name="torque_sensor">l_arm_fts_torque</param>
      <param name="sensor_type">force_torque</param>
    </sensor>
  </ros2_control>
  <link name="r_arm1_shoulder_p_link">
    <visual name="r_arm1_shoulder_p_link_vis">
      <geometry>
        <mesh filename="../meshes/M92UW/visual/r_arm1_shoulder_p_link.stl" scale="1e-3 1e-3 1e-3" />
      </geometry>
      <material name="metal">
        <color rgba="0.85 0.85 0.85 1" />
      </material>
    </visual>
    <collision name="r_arm1_shoulder_p_link_col">
      <geometry>
        <mesh filename="../meshes/M92UW/collision/r_arm1_shoulder_p_link.stl" scale="1e-3 1e-3 1e-3" />
      </geometry>
    </collision>
    <inertial>
      <origin rpy="0.0 0.0 0.0" xyz="0.008950692823963513 0.007910244340673698 0.001047817615140858" />
      <mass value="2.347873199255413" />
      <inertia ixx="0.00371805577636075" ixy="0.00020375534708451775" ixz="3.609106173368525e-05" iyy="0.004459283172641818" iyz="-5.624647211110556e-05" izz="0.004925669991342847" />
    </inertial>
  </link>
  <joint name="r_arm1_shoulder_p_joint" type="revolute">
    <parent link="trunk_link" />
    <child link="r_arm1_shoulder_p_link" />
    <origin rpy="0.0 0.0 0.0" xyz="0.0 -0.225 0.0" />
    <axis xyz="0 1 0" />
    <limit effort="107.0" lower="-3.141592653589793" upper="1.0000736613927508" velocity="3.9" />
    <safety_controller k_position="121.0" k_velocity="540.0" soft_lower_limit="-3.0892327760299634" soft_upper_limit="0.9477137838329208" />
    <dynamics damping="3.48" friction="1.65" />
  </joint>
  <link name="r_arm2_shoulder_r_link">
    <visual name="r_arm2_shoulder_r_link_vis">
      <geometry>
        <mesh filename="../meshes/M92UW/visual/r_arm2_shoulder_r_link.stl" scale="1e-3 1e-3 1e-3" />
      </geometry>
      <material name="metal">
        <color rgba="0.85 0.85 0.85 1" />
      </material>
    </visual>
    <collision name="r_arm2_shoulder_r_link_col">
      <geometry>
        <mesh filename="../meshes/M92UW/collision/r_arm2_shoulder_r_link.stl" scale="1e-3 1e-3 1e-3" />
      </geometry>
    </collision>
    <inertial>
      <origin rpy="0.0 0.0 0.0" xyz="0.00036305191629661246 -0.011843042908443239 -0.03652190992211854" />
      <mass value="0.752587840927864" />
      <inertia ixx="0.0026036114569122793" ixy="-8.592053527867745e-06" ixz="1.6856075010420394e-05" iyy="0.0024594847856526784" iyz="-0.0002802648051565737" izz="0.0016631005538151674" />
    </inertial>
  </link>
  <joint name="r_arm2_shoulder_r_joint" type="revolute">
    <parent link="r_arm1_shoulder_p_link" />
    <child link="r_arm2_shoulder_r_link" />
    <origin rpy="0.0 0.0 0.0" xyz="0.0 0.0 0.0" />
    <axis xyz="1 0 0" />
    <limit effort="107.0" lower="-1.5707963267948966" upper="0.5235987755982988" velocity="3.9" />
    <safety_controller k_position="121.0" k_velocity="540.0" soft_lower_limit="-1.5184364492350666" soft_upper_limit="0.47123889803846897" />
    <dynamics damping="3.48" friction="1.65" />
  </joint>
  <link name="r_arm3_shoulder_y_link">
    <visual name="r_arm3_shoulder_y_link_vis">
      <geometry>
        <mesh filename="../meshes/M92UW/visual/r_arm3_shoulder_y_link.stl" scale="1e-3 1e-3 1e-3" />
      </geometry>
      <material name="metal">
        <color rgba="0.85 0.85 0.85 1" />
      </material>
    </visual>
    <collision name="r_arm3_shoulder_y_link_col">
      <geometry>
        <mesh filename="../meshes/M92UW/collision/r_arm3_shoulder_y_link.stl" scale="1e-3 1e-3 1e-3" />
      </geometry>
    </collision>
    <inertial>
      <origin rpy="0.0 0.0 0.0" xyz="0.009483721082429376 -0.0009283823410288751 0.07220283077817466" />
      <mass value="2.8032226973946757" />
      <inertia ixx="0.01709273409680172" ixy="3.1041493444281146e-05" ixz="0.0018537887840343332" iyy="0.017612642148909542" iyz="-0.00017830759281331393" izz="0.003132408910489035" />
    </inertial>
  </link>
  <joint name="r_arm3_shoulder_y_joint" type="revolute">
    <parent link="r_arm2_shoulder_r_link" />
    <child link="r_arm3_shoulder_y_link" />
    <origin rpy="0.0 0.0 0.0" xyz="0.0 -0.0275 -0.28" />
    <axis xyz="0 0 1" />
    <limit effort="70.0" lower="-3.139847324337799" upper="3.139847324337799" velocity="3.8" />
    <safety_controller k_position="121.0" k_velocity="540.0" soft_lower_limit="-3.087487446777969" soft_upper_limit="3.087487446777969" />
    <dynamics damping="3.48" friction="1.65" />
  </joint>
  <link name="r_arm4_elbow_p_link">
    <visual name="r_arm4_elbow_p_link_vis">
      <geometry>
        <mesh filename="../meshes/M92UW/visual/r_arm4_elbow_p_link.stl" scale="1e-3 1e-3 1e-3" />
      </geometry>
      <material name="metal">
        <color rgba="0.85 0.85 0.85 1" />
      </material>
    </visual>
    <collision name="r_arm4_elbow_p_link_col">
      <geometry>
        <mesh filename="../meshes/M92UW/collision/r_arm4_elbow_p_link.stl" scale="1e-3 1e-3 1e-3" />
      </geometry>
    </collision>
    <inertial>
      <origin rpy="0.0 0.0 0.0" xyz="-0.016878859016134812 0.002424599482891291 -0.08347296858171128" />
      <mass value="1.4951436605879314" />
      <inertia ixx="0.004293550118219109" ixy="-4.3192250569185595e-05" ixz="-0.0003401699176851234" iyy="0.004009022454595748" iyz="-0.00022976670691615358" izz="0.0019433761729977456" />
    </inertial>
  </link>
  <joint name="r_arm4_elbow_p_joint" type="revolute">
    <parent link="r_arm3_shoulder_y_link" />
    <child link="r_arm4_elbow_p_link" />
    <origin rpy="0.0 0.0 0.0" xyz="0.02 0.0 0.0" />
    <axis xyz="0 1 0" />
    <limit effort="70.0" lower="-2.6162485487394997" upper="0.05235987755982988" velocity="3.8" />
    <safety_controller k_position="121.0" k_velocity="540.0" soft_lower_limit="-2.5638886711796705" soft_upper_limit="0.0" />
    <dynamics damping="3.48" friction="1.65" />
  </joint>
  <link name="r_arm5_wrist_y_link">
    <visual name="r_arm5_wrist_y_link_vis">
      <geometry>
        <mesh filename="../meshes/M92UW/visual/r_arm5_wrist_y_link.stl" scale="1e-3 1e-3 1e-3" />
      </geometry>
      <material name="metal">
        <color rgba="0.85 0.85 0.85 1" />
      </material>
    </visual>
    <collision name="r_arm5_wrist_y_link_col">
      <geometry>
        <mesh filename="../meshes/M92UW/collision/r_arm5_wrist_y_link.stl" scale="1e-3 1e-3 1e-3" />
      </geometry>
    </collision>
    <inertial>
      <origin rpy="0.0 0.0 0.0" xyz="1.0105403425632446e-05 0.0007920766777345156 0.033467755020747975" />
      <mass value="0.27226645693469925" />
      <inertia ixx="0.00042677981237483024" ixy="-1.5635914930696041e-07" ixz="-8.511440415016232e-08" iyy="0.00029281147887157377" iyz="2.9845719981923703e-05" izz="0.0003716353641820523" />
    </inertial>
  </link>
  <joint name="r_arm5_wrist_y_joint" type="revolute">
    <parent link="r_arm4_elbow_p_link" />
    <child link="r_arm5_wrist_y_link" />
    <origin rpy="0.0 0.0 0.0" xyz="-0.02 0.0 -0.213" />
    <axis xyz="0 0 1" />
    <limit effort="36.0" lower="-3.141592653589793" upper="3.141592653589793" velocity="4.3" />
    <safety_controller k_position="121.0" k_velocity="540.0" soft_lower_limit="-3.0892327760299634" soft_upper_limit="3.0892327760299634" />
    <dynamics damping="3.48" friction="1.65" />
  </joint>
  <link name="r_arm6_wrist_p_link">
    <visual name="r_arm6_wrist_p_link_vis">
      <geometry>
        <mesh filename="../meshes/M92UW/visual/r_arm6_wrist_p_link.stl" scale="1e-3 1e-3 1e-3" />
      </geometry>
      <material name="metal">
        <color rgba="0.85 0.85 0.85 1" />
      </material>
    </visual>
    <collision name="r_arm6_wrist_p_link_col">
      <geometry>
        <mesh filename="../meshes/M92UW/collision/r_arm6_wrist_p_link.stl" scale="1e-3 1e-3 1e-3" />
      </geometry>
    </collision>
    <inertial>
      <origin rpy="0.0 0.0 0.0" xyz="-0.0023977486620611805 -0.0032941533904827926 -0.02747107099422101" />
      <mass value="0.8769025437478114" />
      <inertia ixx="0.0011344037552627772" ixy="5.74262388435353e-06" ixz="-5.7053004228770495e-05" iyy="0.0011212906698454524" iyz="8.099881421779838e-05" izz="0.0005394058553208015" />
    </inertial>
  </link>
  <joint name="r_arm6_wrist_p_joint" type="revolute">
    <parent link="r_arm5_wrist_y_link" />
    <child link="r_arm6_wrist_p_link" />
    <origin rpy="0.0 0.0 0.0" xyz="0.0 0.0 0.0" />
    <axis xyz="0 1 0" />
    <limit effort="15.0" lower="-1.3962634015954636" upper="1.3962634015954636" velocity="7.7" />
    <safety_controller k_position="121.0" k_velocity="540.0" soft_lower_limit="-1.3439035240356338" soft_upper_limit="1.3439035240356338" />
    <dynamics damping="3.48" friction="1.65" />
  </joint>
  <link name="r_arm7_wrist_r_link">
    <visual name="r_arm7_wrist_r_link_vis">
      <geometry>
        <mesh filename="../meshes/M92UW/visual/r_arm7_wrist_r_link.stl" scale="1e-3 1e-3 1e-3" />
      </geometry>
      <material name="metal">
        <color rgba="0.85 0.85 0.85 1" />
      </material>
    </visual>
    <collision name="r_arm7_wrist_r_link_col">
      <geometry>
        <mesh filename="../meshes/M92UW/collision/r_arm7_wrist_r_link.stl" scale="1e-3 1e-3 1e-3" />
      </geometry>
    </collision>
    <inertial>
      <origin rpy="0.0 0.0 0.0" xyz="0.005628948451189553 0.0002631286864539303 -0.13713379318786653" />
      <mass value="1.1182834022922525" />
      <inertia ixx="0.00054013059" ixy="3.4201381e-06" ixz="1.2981479e-05" iyy="0.00040641427" iyz="1.619246e-05" izz="0.0002867356" />
    </inertial>
  </link>
  <joint name="r_arm7_wrist_r_joint" type="revolute">
    <parent link="r_arm6_wrist_p_link" />
    <child link="r_arm7_wrist_r_link" />
    <origin rpy="0.0 0.0 0.0" xyz="0.0 0.0 -0.055" />
    <axis xyz="1 0 0" />
    <limit effort="15.0" lower="-1.3962634015954636" upper="1.3962634015954636" velocity="7.7" />
    <safety_controller k_position="121.0" k_velocity="540.0" soft_lower_limit="-1.3439035240356338" soft_upper_limit="1.3439035240356338" />
    <dynamics damping="3.48" friction="1.65" />
  </joint>
  <link name="r_arm_force_sensor_link">
    <visual name="r_arm_force_sensor_link_vis">
      <geometry>
        <mesh filename="../meshes/M92UW/visual/r_arm_force_sensor_link.stl" scale="1e-3 1e-3 1e-3" />
      </geometry>
      <material name="metal">
        <color rgba="0.85 0.85 0.85 1" />
      </material>
    </visual>
    <collision name="r_arm_force_sensor_link_col">
      <geometry>
        <mesh filename="../meshes/M92UW/collision/r_arm_force_sensor_link.stl" scale="1e-3 1e-3 1e-3" />
      </geometry>
    </collision>
    <inertial>
      <origin rpy="0.0 0.0 0.0" xyz="-3.6099554e-06 -0.00010782379 -0.01796209" />
      <mass value="0.18791729" />
      <inertia ixx="6.7718362e-05" ixy="8.1094726e-09" ixz="-1.4043436e-08" iyy="6.769248e-05" iyz="8.3150825e-08" izz="9.1033288e-05" />
    </inertial>
  </link>
  <joint name="r_arm_force_sensor_fixed_joint" type="fixed">
    <parent link="r_arm7_wrist_r_link" />
    <child link="r_arm_force_sensor_link" />
    <origin rpy="0.0 0.0 0.0" xyz="0.0 0.0 -0.06" />
    <axis xyz="0 0 1" />
  </joint>
  <sensor id="r_arm_force_torque" name="r_arm_fts" type="force_torque" update_rate="100.0">
    <parent link="r_arm_force_sensor_link" />
    <origin rpy="0 0 0" xyz="0 0 0" />
    <force_torque frame="r_arm_force_torque" measure_direction="force torque sensor" />
  </sensor>
  <link name="r_end_effector_frame" />
  <joint name="r_end_effector_fixed_joint" type="fixed">
    <parent link="r_arm_force_sensor_link" />
    <child link="r_end_effector_frame" />
    <origin rpy="0 1.5707963 0" xyz="0 0 -0.1784999" />
    <axis xyz="0 0 1" />
  </joint>
  <ros2_control name="r_arm_system" type="system">
    <hardware>
      <plugin>fake_components/GenericSystem</plugin>
    </hardware>
    <joint name="r_arm1_shoulder_p_joint">
      <param name="initial_position">0.0</param>
      <command_interface name="position" />
      <state_interface name="position">
        <param name="initial_value">0.0</param>
      </state_interface>
      <state_interface name="velocity" />
      <state_interface name="effort" />
    </joint>
    <transmission name="r_arm1_shoulder_p_transmission">
      <plugin>transmission_interface/SimpleTransmission</plugin>
      <joint name="r_arm1_shoulder_p_joint" role="joint1">
        <mechanical_reduction>1.0</mechanical_reduction>
        <offset>0</offset>
      </joint>
      <actuator name="r_arm1_shoulder_p_actuator" role="actuator1">
        <mechanical_reduction>1.0</mechanical_reduction>
        <offset>0</offset>
      </actuator>
    </transmission>
    <joint name="r_arm2_shoulder_r_joint">
      <param name="initial_position">0.0</param>
      <command_interface name="position" />
      <state_interface name="position">
        <param name="initial_value">0.0</param>
      </state_interface>
      <state_interface name="velocity" />
      <state_interface name="effort" />
    </joint>
    <transmission name="r_arm2_shoulder_r_transmission">
      <plugin>transmission_interface/SimpleTransmission</plugin>
      <joint name="r_arm2_shoulder_r_joint" role="joint1">
        <mechanical_reduction>1.0</mechanical_reduction>
        <offset>0</offset>
      </joint>
      <actuator name="r_arm2_shoulder_r_actuator" role="actuator1">
        <mechanical_reduction>1.0</mechanical_reduction>
        <offset>0</offset>
      </actuator>
    </transmission>
    <joint name="r_arm3_shoulder_y_joint">
      <param name="initial_position">0.0</param>
      <command_interface name="position" />
      <state_interface name="position">
        <param name="initial_value">0.0</param>
      </state_interface>
      <state_interface name="velocity" />
      <state_interface name="effort" />
    </joint>
    <transmission name="r_arm3_shoulder_y_transmission">
      <plugin>transmission_interface/SimpleTransmission</plugin>
      <joint name="r_arm3_shoulder_y_joint" role="joint1">
        <mechanical_reduction>1.0</mechanical_reduction>
        <offset>0</offset>
      </joint>
      <actuator name="r_arm3_shoulder_y_actuator" role="actuator1">
        <mechanical_reduction>1.0</mechanical_reduction>
        <offset>0</offset>
      </actuator>
    </transmission>
    <joint name="r_arm4_elbow_p_joint">
      <param name="initial_position">0.0</param>
      <command_interface name="position" />
      <state_interface name="position">
        <param name="initial_value">0.0</param>
      </state_interface>
      <state_interface name="velocity" />
      <state_interface name="effort" />
    </joint>
    <transmission name="r_arm4_elbow_p_transmission">
      <plugin>transmission_interface/SimpleTransmission</plugin>
      <joint name="r_arm4_elbow_p_joint" role="joint1">
        <mechanical_reduction>1.0</mechanical_reduction>
        <offset>0</offset>
      </joint>
      <actuator name="r_arm4_elbow_p_actuator" role="actuator1">
        <mechanical_reduction>1.0</mechanical_reduction>
        <offset>0</offset>
      </actuator>
    </transmission>
    <joint name="r_arm5_wrist_y_joint">
      <param name="initial_position">0.0</param>
      <command_interface name="position" />
      <state_interface name="position">
        <param name="initial_value">0.0</param>
      </state_interface>
      <state_interface name="velocity" />
      <state_interface name="effort" />
    </joint>
    <transmission name="r_arm5_wrist_y_transmission">
      <plugin>transmission_interface/SimpleTransmission</plugin>
      <joint name="r_arm5_wrist_y_joint" role="joint1">
        <mechanical_reduction>1.0</mechanical_reduction>
        <offset>0</offset>
      </joint>
      <actuator name="r_arm5_wrist_y_actuator" role="actuator1">
        <mechanical_reduction>1.0</mechanical_reduction>
        <offset>0</offset>
      </actuator>
    </transmission>
    <joint name="r_arm6_wrist_p_joint">
      <param name="initial_position">0.0</param>
      <command_interface name="position" />
      <state_interface name="position">
        <param name="initial_value">0.0</param>
      </state_interface>
      <state_interface name="velocity" />
      <state_interface name="effort" />
    </joint>
    <transmission name="r_arm6_wrist_p_transmission">
      <plugin>transmission_interface/SimpleTransmission</plugin>
      <joint name="r_arm6_wrist_p_joint" role="joint1">
        <mechanical_reduction>1.0</mechanical_reduction>
        <offset>0</offset>
      </joint>
      <actuator name="r_arm6_wrist_p_actuator" role="actuator1">
        <mechanical_reduction>1.0</mechanical_reduction>
        <offset>0</offset>
      </actuator>
    </transmission>
    <joint name="r_arm7_wrist_r_joint">
      <param name="initial_position">0.0</param>
      <command_interface name="position" />
      <state_interface name="position">
        <param name="initial_value">0.0</param>
      </state_interface>
      <state_interface name="velocity" />
      <state_interface name="effort" />
    </joint>
    <transmission name="r_arm7_wrist_r_transmission">
      <plugin>transmission_interface/SimpleTransmission</plugin>
      <joint name="r_arm7_wrist_r_joint" role="joint1">
        <mechanical_reduction>1.0</mechanical_reduction>
        <offset>0</offset>
      </joint>
      <actuator name="r_arm7_wrist_r_actuator" role="actuator1">
        <mechanical_reduction>1.0</mechanical_reduction>
        <offset>0</offset>
      </actuator>
    </transmission>
    <sensor name="r_arm_fts">
      <state_interface name="force.x" />
      <state_interface name="force.y" />
      <state_interface name="force.z" />
      <state_interface name="torque.x" />
      <state_interface name="torque.y" />
      <state_interface name="torque.z" />
      <param name="frame_id">r_arm_force_sensor_link</param>
      <param name="fx_range">100</param>
      <param name="fy_range">100</param>
      <param name="fz_range">100</param>
      <param name="tx_range">15</param>
      <param name="ty_range">15</param>
      <param name="tz_range">15</param>
      <param name="force_sensor">r_arm_fts_force</param>
      <param name="torque_sensor">r_arm_fts_torque</param>
      <param name="sensor_type">force_torque</param>
    </sensor>
  </ros2_control>
  <link name="l_hand_palm_link">
    <visual name="l_hand_palm_link_vis">
      <geometry>
        <mesh filename="../meshes/robot_hands/m92u_hand/visual/l_hand_palm_link.stl" scale="1e-3 1e-3 1e-3" />
      </geometry>
      <material name="metal">
        <color rgba="0.85 0.85 0.85 1" />
      </material>
    </visual>
    <collision name="l_hand_palm_link_col">
      <geometry>
        <mesh filename="../meshes/robot_hands/m92u_hand/collision/l_hand_palm_link.stl" scale="1e-3 1e-3 1e-3" />
      </geometry>
    </collision>
    <inertial>
      <origin rpy="0.0 0.0 0.0" xyz="0.0066907677 -0.0010477583 0.073269258" />
      <mass value="0.51091924" />
      <inertia ixx="0.0011738638" ixy="8.0758228e-06" ixz="-5.8385213e-05" iyy="0.00086809954" iyz="-2.9339983e-06" izz="0.00046867916" />
    </inertial>
  </link>
  <joint name="l_hand_palm_fixed_joint" type="fixed">
    <parent link="l_arm_force_sensor_link" />
    <child link="l_hand_palm_link" />
    <origin rpy="3.1415926 0.0 1.5707963" xyz="0.0 0.0 -0.0402" />
    <axis xyz="0 0 1" />
  </joint>
  <link name="l_wrist_camera_link">
    <visual name="l_wrist_camera_link_vis">
      <geometry>
        <mesh filename="../meshes/robot_hands/m92u_hand/visual/l_wrist_camera_link.stl" scale="1e-3 1e-3 1e-3" />
      </geometry>
      <material name="metal">
        <color rgba="0.85 0.85 0.85 1" />
      </material>
    </visual>
    <collision name="l_wrist_camera_link_col">
      <geometry>
        <mesh filename="../meshes/robot_hands/m92u_hand/collision/l_wrist_camera_link.stl" scale="1e-3 1e-3 1e-3" />
      </geometry>
    </collision>
    <inertial>
      <origin rpy="0 0 0" xyz="0.01152421 0.00937785 -0.01181410" />
      <mass value="0.61953384" />
      <inertia ixx="3.83349585E-04" ixy="1.12480369E-06" ixz="2.03440097E-05" iyy="2.15177104E-04" iyz="6.38698840E-05" izz="4.88019387E-04" />
    </inertial>
  </link>
  <joint name="l_wrist_camera_joint" type="fixed">
    <parent link="l_hand_palm_link" />
    <child link="l_wrist_camera_link" />
    <origin rpy="0.08726646111111111 -0.5235987666666666 -0.7360053155578189" xyz="-0.049594655354 -0.026873967748 0.008037088402" />
    <axis xyz="0 0 1" />
  </joint>
  <link name="l_wrist_camera1_color_optical_frame" />
  <joint name="l_wrist_camera1_color_optical_joint" type="fixed">
    <parent link="l_wrist_camera_link" />
    <child link="l_wrist_camera1_color_optical_frame" />
    <origin rpy="0.0 0.0 0.0" xyz="0.0 0.0 0.0" />
    <axis xyz="0 0 1" />
  </joint>
  <link name="l_wrist_camera1_color_frame" />
  <joint name="l_wrist_camera1_color_joint" type="fixed">
    <parent link="l_wrist_camera1_color_optical_frame" />
    <child link="l_wrist_camera1_color_frame" />
    <origin rpy="0.0 -1.5707963 1.5707963" xyz="0.0 0.0 0.0" />
    <axis xyz="0 0 1" />
  </joint>
  <link name="l_wrist_camera2_color_optical_frame" />
  <joint name="l_wrist_camera2_color_optical_joint" type="fixed">
    <parent link="l_wrist_camera_link" />
    <child link="l_wrist_camera2_color_optical_frame" />
    <origin rpy="0.0 0.0 0.0" xyz="0.02 0.0 0.0" />
    <axis xyz="0 0 1" />
  </joint>
  <link name="l_wrist_camera2_color_frame" />
  <joint name="l_wrist_camera2_color_joint" type="fixed">
    <parent link="l_wrist_camera2_color_optical_frame" />
    <child link="l_wrist_camera2_color_frame" />
    <origin rpy="0.0 -1.5707963 1.5707963" xyz="0.0 0.0 0.0" />
    <axis xyz="0 0 1" />
  </joint>
  <link name="l_thumb_cmc_y_link">
    <visual name="l_thumb_cmc_y_link_vis">
      <geometry>
        <mesh filename="../meshes/robot_hands/m92u_hand/visual/l_thumb_cmc_y_link.stl" scale="1e-3 1e-3 1e-3" />
      </geometry>
      <material name="metal">
        <color rgba="0.85 0.85 0.85 1" />
      </material>
    </visual>
    <collision name="l_thumb_cmc_y_link_col">
      <geometry>
        <mesh filename="../meshes/robot_hands/m92u_hand/collision/l_thumb_cmc_y_link.stl" scale="1e-3 1e-3 1e-3" />
      </geometry>
    </collision>
    <inertial>
      <origin rpy="0.0 0.0 0.0" xyz="0.00013690974 0.004314019 0.0014461036" />
      <mass value="0.0041682968" />
      <inertia ixx="1.879066e-07" ixy="2.6648846e-10" ixz="1.9123148e-09" iyy="1.4733887e-07" iyz="-1.0252068e-08" izz="1.6145797e-07" />
    </inertial>
  </link>
  <joint name="l_thumb_cmc_y_joint" type="revolute">
    <parent link="l_hand_palm_link" />
    <child link="l_thumb_cmc_y_link" />
    <origin rpy="6.98131688888889e-09 4.188790133333333e-08 0.17452838436624443" xyz="-0.01285999 0.030499 0.0422" />
    <axis xyz="0 0 1" />
    <limit effort="10.0" lower="0.0" upper="1.5707963267948966" velocity="1.0" />
    <dynamics damping="0.05" friction="0.2" />
  </joint>
  <link name="l_thumb_cmc_p_link">
    <visual name="l_thumb_cmc_p_link_vis">
      <geometry>
        <mesh filename="../meshes/robot_hands/m92u_hand/visual/l_thumb_cmc_p_link.stl" scale="1e-3 1e-3 1e-3" />
      </geometry>
      <material name="metal">
        <color rgba="0.85 0.85 0.85 1" />
      </material>
    </visual>
    <collision name="l_thumb_cmc_p_link_col">
      <geometry>
        <mesh filename="../meshes/robot_hands/m92u_hand/collision/l_thumb_cmc_p_link.stl" scale="1e-3 1e-3 1e-3" />
      </geometry>
    </collision>
    <inertial>
      <origin rpy="0.0 0.0 0.0" xyz="0.0037406309 6.2541125e-05 0.030701447" />
      <mass value="0.065849672" />
      <inertia ixx="2.342561e-05" ixy="1.0513129e-08" ixz="-1.2619558e-06" iyy="2.3436847e-05" iyz="-6.1471225e-09" izz="6.0738673e-06" />
    </inertial>
  </link>
  <joint name="l_thumb_cmc_p_joint" type="revolute">
    <parent link="l_thumb_cmc_y_link" />
    <child link="l_thumb_cmc_p_link" />
    <origin rpy="6.98131688888889e-09 1.0556553987442223 1.5707963" xyz="0.0 0.010222 -0.001249999" />
    <axis xyz="0 1 0" />
    <limit effort="10.0" lower="-0.9581857593448869" upper="0.0" velocity="1.0" />
    <dynamics damping="0.05" friction="0.2" />
  </joint>
  <link name="l_thumb_mcp_link">
    <visual name="l_thumb_mcp_link_vis">
      <geometry>
        <mesh filename="../meshes/robot_hands/m92u_hand/visual/l_thumb_mcp_link.stl" scale="1e-3 1e-3 1e-3" />
      </geometry>
      <material name="metal">
        <color rgba="0.85 0.85 0.85 1" />
      </material>
    </visual>
    <collision name="l_thumb_mcp_link_col">
      <geometry>
        <mesh filename="../meshes/robot_hands/m92u_hand/collision/l_thumb_mcp_link.stl" scale="1e-3 1e-3 1e-3" />
      </geometry>
    </collision>
    <inertial>
      <origin rpy="0.0 0.0 0.0" xyz="0.0041049624 0.00012475893 0.0068045785" />
      <mass value="0.020626252" />
      <inertia ixx="2.7725592e-06" ixy="3.2525504e-09" ixz="1.0813275e-07" iyy="2.4303458e-06" iyz="-1.4560537e-09" izz="1.844533e-06" />
    </inertial>
  </link>
  <joint name="l_thumb_mcp_joint" type="revolute">
    <parent link="l_thumb_cmc_p_link" />
    <child link="l_thumb_mcp_link" />
    <origin rpy="0.0 0.1292803752142889 0.0" xyz="0.0 0.0 0.061208" />
    <axis xyz="0 1 0" />
    <limit effort="10.0" lower="-1.2044394994965228" upper="0.0" velocity="1.0" />
    <dynamics damping="0.05" friction="0.2" />
    <mimic joint="l_thumb_cmc_p_joint" multiplier="1.257" offset="0" />
  </joint>
  <link name="l_thumb_ip_link">
    <visual name="l_thumb_ip_link_vis">
      <geometry>
        <mesh filename="../meshes/robot_hands/m92u_hand/visual/l_thumb_ip_link.stl" scale="1e-3 1e-3 1e-3" />
      </geometry>
      <material name="metal">
        <color rgba="0.85 0.85 0.85 1" />
      </material>
    </visual>
    <collision name="l_thumb_ip_link_col">
      <geometry>
        <mesh filename="../meshes/robot_hands/m92u_hand/collision/l_thumb_ip_link.stl" scale="1e-3 1e-3 1e-3" />
      </geometry>
    </collision>
    <inertial>
      <origin rpy="0.0 0.0 0.0" xyz="0.0023012779 5.1945218e-05 0.01155386" />
      <mass value="0.014682022" />
      <inertia ixx="1.7598268e-06" ixy="2.1216882e-10" ixz="1.7453019e-07" iyy="1.6243072e-06" iyz="5.4318299e-09" izz="5.5154865e-07" />
    </inertial>
  </link>
  <joint name="l_thumb_ip_joint" type="revolute">
    <parent link="l_thumb_mcp_link" />
    <child link="l_thumb_ip_link" />
    <origin rpy="0.0 0.030171506264555555 0.0" xyz="0.0 0.0 0.021998" />
    <axis xyz="0 1 0" />
    <limit effort="10.0" lower="-0.9668094311789909" upper="0.0" velocity="1.0" />
    <dynamics damping="0.05" friction="0.2" />
    <mimic joint="l_thumb_cmc_p_joint" multiplier="1.009" offset="0" />
  </joint>
  <link name="l_index_mcp_link">
    <visual name="l_index_mcp_link_vis">
      <geometry>
        <mesh filename="../meshes/robot_hands/m92u_hand/visual/l_index_mcp_link.stl" scale="1e-3 1e-3 1e-3" />
      </geometry>
      <material name="metal">
        <color rgba="0.85 0.85 0.85 1" />
      </material>
    </visual>
    <collision name="l_index_mcp_link_col">
      <geometry>
        <mesh filename="../meshes/robot_hands/m92u_hand/collision/l_index_mcp_link.stl" scale="1e-3 1e-3 1e-3" />
      </geometry>
    </collision>
    <inertial>
      <origin rpy="0 0 0" xyz="0.0025630348 -4.5144155e-05 0.015835538" />
      <mass value="0.019819477" />
      <inertia ixx="7.968542e-06" ixy="-2.0287697e-09" ixz="1.8656552e-07" iyy="7.7945937e-06" iyz="9.2239096e-09" izz="1.3645148e-06" />
    </inertial>
  </link>
  <joint name="l_index_mcp_joint" type="revolute">
    <parent link="l_hand_palm_link" />
    <child link="l_index_mcp_link" />
    <origin rpy="-0.05341929150455556 -0.1994370248941111 0.010576695086666667" xyz="0.0098 0.03651 0.1371306" />
    <axis xyz="0 1 0" />
    <limit effort="10.0" lower="-1.509709802975095" upper="0.0" velocity="1.0" />
    <dynamics damping="0.05" friction="0.2" />
  </joint>
  <link name="l_index_pip_link">
    <visual name="l_index_pip_link_vis">
      <geometry>
        <mesh filename="../meshes/robot_hands/m92u_hand/visual/l_index_pip_link.stl" scale="1e-3 1e-3 1e-3" />
      </geometry>
      <material name="metal">
        <color rgba="0.85 0.85 0.85 1" />
      </material>
    </visual>
    <collision name="l_index_pip_link_col">
      <geometry>
        <mesh filename="../meshes/robot_hands/m92u_hand/collision/l_index_pip_link.stl" scale="1e-3 1e-3 1e-3" />
      </geometry>
    </collision>
    <inertial>
      <origin rpy="0 0 0" xyz="-0.0034042799 4.7762295e-05 0.01800778" />
      <mass value="0.014898956" />
      <inertia ixx="4.0728035e-06" ixy="-4.5175385e-10" ixz="-1.3605185e-07" iyy="3.9952123e-06" iyz="7.1198886e-09" izz="5.2116681e-07" />
    </inertial>
  </link>
  <joint name="l_index_pip_joint" type="revolute">
    <parent link="l_index_mcp_link" />
    <child link="l_index_pip_link" />
    <origin rpy="0.0 -0.05016320530757778 0.0" xyz="0.0 0.0 0.0310058" />
    <axis xyz="0 1 0" />
    <limit effort="10.0" lower="-1.486308428364355" upper="0.0" velocity="1.0" />
    <dynamics damping="0.05" friction="0.2" />
    <mimic joint="l_index_mcp_joint" multiplier="0.9845" offset="0" />
  </joint>
  <link name="l_middle_mcp_link">
    <visual name="l_middle_mcp_link_vis">
      <geometry>
        <mesh filename="../meshes/robot_hands/m92u_hand/visual/l_middle_mcp_link.stl" scale="1e-3 1e-3 1e-3" />
      </geometry>
      <material name="metal">
        <color rgba="0.85 0.85 0.85 1" />
      </material>
    </visual>
    <collision name="l_middle_mcp_link_col">
      <geometry>
        <mesh filename="../meshes/robot_hands/m92u_hand/collision/l_middle_mcp_link.stl" scale="1e-3 1e-3 1e-3" />
      </geometry>
    </collision>
    <inertial>
      <origin rpy="0 0 0" xyz="0.0025630348 -4.5144155e-05 0.015835538" />
      <mass value="0.019819477" />
      <inertia ixx="7.968542e-06" ixy="-2.0287697e-09" ixz="1.8656552e-07" iyy="7.7945937e-06" iyz="9.2239096e-09" izz="1.3645148e-06" />
    </inertial>
  </link>
  <joint name="l_middle_mcp_joint" type="revolute">
    <parent link="l_hand_palm_link" />
    <child link="l_middle_mcp_link" />
    <origin rpy="0.0 -0.19971453224044444 0.0" xyz="0.0098 0.0110499 0.1382999" />
    <axis xyz="0 1 0" />
    <limit effort="10.0" lower="-1.509709802975095" upper="0.0" velocity="1.0" />
    <dynamics damping="0.05" friction="0.2" />
  </joint>
  <link name="l_middle_pip_link">
    <visual name="l_middle_pip_link_vis">
      <geometry>
        <mesh filename="../meshes/robot_hands/m92u_hand/visual/l_middle_pip_link.stl" scale="1e-3 1e-3 1e-3" />
      </geometry>
      <material name="metal">
        <color rgba="0.85 0.85 0.85 1" />
      </material>
    </visual>
    <collision name="l_middle_pip_link_col">
      <geometry>
        <mesh filename="../meshes/robot_hands/m92u_hand/collision/l_middle_pip_link.stl" scale="1e-3 1e-3 1e-3" />
      </geometry>
    </collision>
    <inertial>
      <origin rpy="0 0 0" xyz="-0.0034042799 4.7762295e-05 0.01800778" />
      <mass value="0.014898956" />
      <inertia ixx="4.0728035e-06" ixy="-4.5175385e-10" ixz="-1.3605185e-07" iyy="3.9952123e-06" iyz="7.1198886e-09" izz="5.2116681e-07" />
    </inertial>
  </link>
  <joint name="l_middle_pip_joint" type="revolute">
    <parent link="l_middle_mcp_link" />
    <child link="l_middle_pip_link" />
    <origin rpy="0.0 -0.05016320530757778 0.0" xyz="0.0 0.0 0.0310058" />
    <axis xyz="0 1 0" />
    <limit effort="10.0" lower="-1.486308428364355" upper="0.0" velocity="1.0" />
    <dynamics damping="0.05" friction="0.2" />
    <mimic joint="l_middle_mcp_joint" multiplier="0.9845" offset="0" />
  </joint>
  <link name="l_ring_mcp_link">
    <visual name="l_ring_mcp_link_vis">
      <geometry>
        <mesh filename="../meshes/robot_hands/m92u_hand/visual/l_ring_mcp_link.stl" scale="1e-3 1e-3 1e-3" />
      </geometry>
      <material name="metal">
        <color rgba="0.85 0.85 0.85 1" />
      </material>
    </visual>
    <collision name="l_ring_mcp_link_col">
      <geometry>
        <mesh filename="../meshes/robot_hands/m92u_hand/collision/l_ring_mcp_link.stl" scale="1e-3 1e-3 1e-3" />
      </geometry>
    </collision>
    <inertial>
      <origin rpy="0 0 0" xyz="0.0025630348 -4.5144155e-05 0.015835538" />
      <mass value="0.019819477" />
      <inertia ixx="7.968542e-06" ixy="-2.0287697e-09" ixz="1.8656552e-07" iyy="7.7945937e-06" iyz="9.2239096e-09" izz="1.3645148e-06" />
    </inertial>
  </link>
  <joint name="l_ring_mcp_joint" type="revolute">
    <parent link="l_hand_palm_link" />
    <child link="l_ring_mcp_link" />
    <origin rpy="0.05341927405126334 -0.1994370248941111 -0.010592403049666667" xyz="0.0098 -0.01446388 0.13813451" />
    <axis xyz="0 1 0" />
    <limit effort="10.0" lower="-1.509709802975095" upper="0.0" velocity="1.0" />
    <dynamics damping="0.05" friction="0.2" />
  </joint>
  <link name="l_ring_pip_link">
    <visual name="l_ring_pip_link_vis">
      <geometry>
        <mesh filename="../meshes/robot_hands/m92u_hand/visual/l_ring_pip_link.stl" scale="1e-3 1e-3 1e-3" />
      </geometry>
      <material name="metal">
        <color rgba="0.85 0.85 0.85 1" />
      </material>
    </visual>
    <collision name="l_ring_pip_link_col">
      <geometry>
        <mesh filename="../meshes/robot_hands/m92u_hand/collision/l_ring_pip_link.stl" scale="1e-3 1e-3 1e-3" />
      </geometry>
    </collision>
    <inertial>
      <origin rpy="0 0 0" xyz="-0.0034042799 4.7762295e-05 0.01800778" />
      <mass value="0.014898956" />
      <inertia ixx="4.0728035e-06" ixy="-4.5175385e-10" ixz="-1.3605185e-07" iyy="3.9952123e-06" iyz="7.1198886e-09" izz="5.2116681e-07" />
    </inertial>
  </link>
  <joint name="l_ring_pip_joint" type="revolute">
    <parent link="l_ring_mcp_link" />
    <child link="l_ring_pip_link" />
    <origin rpy="0.0 -0.05016320530757778 0.0" xyz="0.0 0.0 0.0310058" />
    <axis xyz="0 1 0" />
    <limit effort="10.0" lower="-1.486308428364355" upper="0.0" velocity="1.0" />
    <dynamics damping="0.05" friction="0.2" />
    <mimic joint="l_ring_mcp_joint" multiplier="0.9845" offset="0" />
  </joint>
  <link name="l_pinky_mcp_link">
    <visual name="l_pinky_mcp_link_vis">
      <geometry>
        <mesh filename="../meshes/robot_hands/m92u_hand/visual/l_pinky_mcp_link.stl" scale="1e-3 1e-3 1e-3" />
      </geometry>
      <material name="metal">
        <color rgba="0.85 0.85 0.85 1" />
      </material>
    </visual>
    <collision name="l_pinky_mcp_link_col">
      <geometry>
        <mesh filename="../meshes/robot_hands/m92u_hand/collision/l_pinky_mcp_link.stl" scale="1e-3 1e-3 1e-3" />
      </geometry>
    </collision>
    <inertial>
      <origin rpy="0 0 0" xyz="0.0025630348 -4.5144155e-05 0.015835538" />
      <mass value="0.019819477" />
      <inertia ixx="7.968542e-06" ixy="-2.0287697e-09" ixz="1.8656552e-07" iyy="7.7945937e-06" iyz="9.2239096e-09" izz="1.3645148e-06" />
    </inertial>
  </link>
  <joint name="l_pinky_mcp_joint" type="revolute">
    <parent link="l_hand_palm_link" />
    <child link="l_pinky_mcp_link" />
    <origin rpy="0.1068141484 -0.19860101219666665 -0.021153390173333335" xyz="0.0098 -0.0398034 0.13514012" />
    <axis xyz="0 1 0" />
    <limit effort="10.0" lower="-1.509709802975095" upper="0.0" velocity="1.0" />
    <dynamics damping="0.05" friction="0.2" />
  </joint>
  <link name="l_pinky_pip_link">
    <visual name="l_pinky_pip_link_vis">
      <geometry>
        <mesh filename="../meshes/robot_hands/m92u_hand/visual/l_pinky_pip_link.stl" scale="1e-3 1e-3 1e-3" />
      </geometry>
      <material name="metal">
        <color rgba="0.85 0.85 0.85 1" />
      </material>
    </visual>
    <collision name="l_pinky_pip_link_col">
      <geometry>
        <mesh filename="../meshes/robot_hands/m92u_hand/collision/l_pinky_pip_link.stl" scale="1e-3 1e-3 1e-3" />
      </geometry>
    </collision>
    <inertial>
      <origin rpy="0 0 0" xyz="-0.0034042799 4.7762295e-05 0.01800778" />
      <mass value="0.014898956" />
      <inertia ixx="4.0728035e-06" ixy="-4.5175385e-10" ixz="-1.3605185e-07" iyy="3.9952123e-06" iyz="7.1198886e-09" izz="5.2116681e-07" />
    </inertial>
  </link>
  <joint name="l_pinky_pip_joint" type="revolute">
    <parent link="l_pinky_mcp_link" />
    <child link="l_pinky_pip_link" />
    <origin rpy="0.0 -0.05016320530757778 0.0" xyz="0.0 0.0 0.0310058" />
    <axis xyz="0 1 0" />
    <limit effort="10.0" lower="-1.486308428364355" upper="0.0" velocity="1.0" />
    <dynamics damping="0.05" friction="0.2" />
    <mimic joint="l_pinky_mcp_joint" multiplier="0.9845" offset="0" />
  </joint>
  <ros2_control name="l_hand_system" type="system">
    <hardware>
      <plugin>fake_components/GenericSystem</plugin>
    </hardware>
    <joint name="l_thumb_cmc_y_joint">
      <param name="initial_position">0.0</param>
      <command_interface name="position" />
      <state_interface name="position">
        <param name="initial_value">0.0</param>
      </state_interface>
      <state_interface name="velocity" />
      <state_interface name="effort" />
    </joint>
    <transmission name="l_thumb_cmc_y_transmission">
      <plugin>transmission_interface/SimpleTransmission</plugin>
      <joint name="l_thumb_cmc_y_joint" role="joint1">
        <mechanical_reduction>1.0</mechanical_reduction>
        <offset>0</offset>
      </joint>
      <actuator name="l_thumb_cmc_y_actuator" role="actuator1">
        <mechanical_reduction>1.0</mechanical_reduction>
        <offset>0</offset>
      </actuator>
    </transmission>
    <joint name="l_thumb_cmc_p_joint">
      <param name="initial_position">0.0</param>
      <command_interface name="position" />
      <state_interface name="position">
        <param name="initial_value">0.0</param>
      </state_interface>
      <state_interface name="velocity" />
      <state_interface name="effort" />
    </joint>
    <transmission name="l_thumb_cmc_p_transmission">
      <plugin>transmission_interface/SimpleTransmission</plugin>
      <joint name="l_thumb_cmc_p_joint" role="joint1">
        <mechanical_reduction>1.0</mechanical_reduction>
        <offset>0</offset>
      </joint>
      <actuator name="l_thumb_cmc_p_actuator" role="actuator1">
        <mechanical_reduction>1.0</mechanical_reduction>
        <offset>0</offset>
      </actuator>
    </transmission>
    <joint name="l_thumb_mcp_joint">
      <param name="initial_position">0.0</param>
      <param name="mimic">l_thumb_cmc_p_joint</param>
      <param name="multiplier">1</param>
      <command_interface name="position" />
      <state_interface name="position">
        <param name="initial_value">0.0</param>
      </state_interface>
      <state_interface name="velocity" />
      <state_interface name="effort" />
    </joint>
    <joint name="l_thumb_ip_joint">
      <param name="initial_position">0.0</param>
      <param name="mimic">l_thumb_cmc_p_joint</param>
      <param name="multiplier">1</param>
      <command_interface name="position" />
      <state_interface name="position">
        <param name="initial_value">0.0</param>
      </state_interface>
      <state_interface name="velocity" />
      <state_interface name="effort" />
    </joint>
    <joint name="l_index_mcp_joint">
      <param name="initial_position">0.0</param>
      <command_interface name="position" />
      <state_interface name="position">
        <param name="initial_value">0.0</param>
      </state_interface>
      <state_interface name="velocity" />
      <state_interface name="effort" />
    </joint>
    <transmission name="l_index_mcp_transmission">
      <plugin>transmission_interface/SimpleTransmission</plugin>
      <joint name="l_index_mcp_joint" role="joint1">
        <mechanical_reduction>1.0</mechanical_reduction>
        <offset>0</offset>
      </joint>
      <actuator name="l_index_mcp_actuator" role="actuator1">
        <mechanical_reduction>1.0</mechanical_reduction>
        <offset>0</offset>
      </actuator>
    </transmission>
    <joint name="l_index_pip_joint">
      <param name="initial_position">0.0</param>
      <param name="mimic">l_index_mcp_joint</param>
      <param name="multiplier">1</param>
      <command_interface name="position" />
      <state_interface name="position">
        <param name="initial_value">0.0</param>
      </state_interface>
      <state_interface name="velocity" />
      <state_interface name="effort" />
    </joint>
    <joint name="l_middle_mcp_joint">
      <param name="initial_position">0.0</param>
      <command_interface name="position" />
      <state_interface name="position">
        <param name="initial_value">0.0</param>
      </state_interface>
      <state_interface name="velocity" />
      <state_interface name="effort" />
    </joint>
    <transmission name="l_middle_mcp_transmission">
      <plugin>transmission_interface/SimpleTransmission</plugin>
      <joint name="l_middle_mcp_joint" role="joint1">
        <mechanical_reduction>1.0</mechanical_reduction>
        <offset>0</offset>
      </joint>
      <actuator name="l_middle_mcp_actuator" role="actuator1">
        <mechanical_reduction>1.0</mechanical_reduction>
        <offset>0</offset>
      </actuator>
    </transmission>
    <joint name="l_middle_pip_joint">
      <param name="initial_position">0.0</param>
      <param name="mimic">l_middle_mcp_joint</param>
      <param name="multiplier">1</param>
      <command_interface name="position" />
      <state_interface name="position">
        <param name="initial_value">0.0</param>
      </state_interface>
      <state_interface name="velocity" />
      <state_interface name="effort" />
    </joint>
    <joint name="l_pinky_mcp_joint">
      <param name="initial_position">0.0</param>
      <command_interface name="position" />
      <state_interface name="position">
        <param name="initial_value">0.0</param>
      </state_interface>
      <state_interface name="velocity" />
      <state_interface name="effort" />
    </joint>
    <transmission name="l_pinky_mcp_transmission">
      <plugin>transmission_interface/SimpleTransmission</plugin>
      <joint name="l_pinky_mcp_joint" role="joint1">
        <mechanical_reduction>1.0</mechanical_reduction>
        <offset>0</offset>
      </joint>
      <actuator name="l_pinky_mcp_actuator" role="actuator1">
        <mechanical_reduction>1.0</mechanical_reduction>
        <offset>0</offset>
      </actuator>
    </transmission>
    <joint name="l_pinky_pip_joint">
      <param name="initial_position">0.0</param>
      <param name="mimic">l_pinky_mcp_joint</param>
      <param name="multiplier">1</param>
      <command_interface name="position" />
      <state_interface name="position">
        <param name="initial_value">0.0</param>
      </state_interface>
      <state_interface name="velocity" />
      <state_interface name="effort" />
    </joint>
    <joint name="l_ring_mcp_joint">
      <param name="initial_position">0.0</param>
      <command_interface name="position" />
      <state_interface name="position">
        <param name="initial_value">0.0</param>
      </state_interface>
      <state_interface name="velocity" />
      <state_interface name="effort" />
    </joint>
    <transmission name="l_ring_mcp_transmission">
      <plugin>transmission_interface/SimpleTransmission</plugin>
      <joint name="l_ring_mcp_joint" role="joint1">
        <mechanical_reduction>1.0</mechanical_reduction>
        <offset>0</offset>
      </joint>
      <actuator name="l_ring_mcp_actuator" role="actuator1">
        <mechanical_reduction>1.0</mechanical_reduction>
        <offset>0</offset>
      </actuator>
    </transmission>
    <joint name="l_ring_pip_joint">
      <param name="initial_position">0.0</param>
      <param name="mimic">l_ring_mcp_joint</param>
      <param name="multiplier">1</param>
      <command_interface name="position" />
      <state_interface name="position">
        <param name="initial_value">0.0</param>
      </state_interface>
      <state_interface name="velocity" />
      <state_interface name="effort" />
    </joint>
  </ros2_control>
  <link name="r_hand_palm_link">
    <visual name="r_hand_palm_link_vis">
      <geometry>
        <mesh filename="../meshes/robot_hands/m92u_hand/visual/r_hand_palm_link.stl" scale="1e-3 1e-3 1e-3" />
      </geometry>
      <material name="metal">
        <color rgba="0.85 0.85 0.85 1" />
      </material>
    </visual>
    <collision name="r_hand_palm_link_col">
      <geometry>
        <mesh filename="../meshes/robot_hands/m92u_hand/collision/r_hand_palm_link.stl" scale="1e-3 1e-3 1e-3" />
      </geometry>
    </collision>
    <inertial>
      <origin rpy="0.0 0.0 0.0" xyz="-0.0066907677 -0.0010477583 0.073269258" />
      <mass value="0.51091924" />
      <inertia ixx="0.0011738638" ixy="-8.0758228e-06" ixz="5.8385213e-05" iyy="0.00086809954" iyz="-2.9339983e-06" izz="0.00046867916" />
    </inertial>
  </link>
  <joint name="r_hand_palm_fixed_joint" type="fixed">
    <parent link="r_arm_force_sensor_link" />
    <child link="r_hand_palm_link" />
    <origin rpy="3.1415926 0.0 1.5707963" xyz="0.0 0.0 -0.0402" />
    <axis xyz="0 0 1" />
  </joint>
  <link name="r_wrist_camera_link">
    <visual name="r_wrist_camera_link_vis">
      <geometry>
        <mesh filename="../meshes/robot_hands/m92u_hand/visual/r_wrist_camera_link.stl" scale="1e-3 1e-3 1e-3" />
      </geometry>
      <material name="metal">
        <color rgba="0.85 0.85 0.85 1" />
      </material>
    </visual>
    <collision name="r_wrist_camera_link_col">
      <geometry>
        <mesh filename="../meshes/robot_hands/m92u_hand/collision/r_wrist_camera_link.stl" scale="1e-3 1e-3 1e-3" />
      </geometry>
    </collision>
    <inertial>
      <origin rpy="0 0 0" xyz="-0.00885724 0.00788184 -0.01148469" />
      <mass value="0.61953384" />
      <inertia ixx="3.30124420E-04" ixy="-3.72996898E-06" ixz="-1.66951003E-05" iyy="2.11803988E-04" iyz="5.40120697E-05" izz="4.36892784E-04" />
    </inertial>
  </link>
  <joint name="r_wrist_camera_joint" type="fixed">
    <parent link="r_hand_palm_link" />
    <child link="r_wrist_camera_link" />
    <origin rpy="0.08726646111111111 0.5235987666666666 0.7360053155578189" xyz="0.047553539948 -0.02872279145 0.009627090055" />
    <axis xyz="0 0 1" />
  </joint>
  <link name="r_wrist_camera1_color_optical_frame" />
  <joint name="r_wrist_camera1_color_optical_joint" type="fixed">
    <parent link="r_wrist_camera_link" />
    <child link="r_wrist_camera1_color_optical_frame" />
    <origin rpy="0.0 0.0 0.0" xyz="0.0 0.0 0.0" />
    <axis xyz="0 0 1" />
  </joint>
  <link name="r_wrist_camera1_color_frame" />
  <joint name="r_wrist_camera1_color_joint" type="fixed">
    <parent link="r_wrist_camera1_color_optical_frame" />
    <child link="r_wrist_camera1_color_frame" />
    <origin rpy="0.0 -1.5707963 1.5707963" xyz="0.0 0.0 0.0" />
    <axis xyz="0 0 1" />
  </joint>
  <link name="r_wrist_camera2_color_optical_frame" />
  <joint name="r_wrist_camera2_color_optical_joint" type="fixed">
    <parent link="r_wrist_camera_link" />
    <child link="r_wrist_camera2_color_optical_frame" />
    <origin rpy="0.0 0.0 0.0" xyz="-0.02 0.0 0.0" />
    <axis xyz="0 0 1" />
  </joint>
  <link name="r_wrist_camera2_color_frame" />
  <joint name="r_wrist_camera2_color_joint" type="fixed">
    <parent link="r_wrist_camera2_color_optical_frame" />
    <child link="r_wrist_camera2_color_frame" />
    <origin rpy="0.0 -1.5707963 1.5707963" xyz="0.0 0.0 0.0" />
    <axis xyz="0 0 1" />
  </joint>
  <link name="r_thumb_cmc_y_link">
    <visual name="r_thumb_cmc_y_link_vis">
      <geometry>
        <mesh filename="../meshes/robot_hands/m92u_hand/visual/r_thumb_cmc_y_link.stl" scale="1e-3 1e-3 1e-3" />
      </geometry>
      <material name="metal">
        <color rgba="0.85 0.85 0.85 1" />
      </material>
    </visual>
    <collision name="r_thumb_cmc_y_link_col">
      <geometry>
        <mesh filename="../meshes/robot_hands/m92u_hand/collision/r_thumb_cmc_y_link.stl" scale="1e-3 1e-3 1e-3" />
      </geometry>
    </collision>
    <inertial>
      <origin rpy="0.0 0.0 0.0" xyz="-0.00013690974 0.004314019 0.0014461036" />
      <mass value="0.0041682968" />
      <inertia ixx="1.879066e-07" ixy="-2.6648846e-10" ixz="-1.9123148e-09" iyy="1.4733887e-07" iyz="-1.0252068e-08" izz="1.6145797e-07" />
    </inertial>
  </link>
  <joint name="r_thumb_cmc_y_joint" type="revolute">
    <parent link="r_hand_palm_link" />
    <child link="r_thumb_cmc_y_link" />
    <origin rpy="6.98131688888889e-09 -4.188790133333333e-08 -0.17452838436624443" xyz="0.01285999 0.030499 0.0422" />
    <axis xyz="0 0 1" />
    <limit effort="10.0" lower="-1.5707963267948966" upper="0.0" velocity="1.0" />
    <dynamics damping="0.05" friction="0.2" />
  </joint>
  <link name="r_thumb_cmc_p_link">
    <visual name="r_thumb_cmc_p_link_vis">
      <geometry>
        <mesh filename="../meshes/robot_hands/m92u_hand/visual/r_thumb_cmc_p_link.stl" scale="1e-3 1e-3 1e-3" />
      </geometry>
      <material name="metal">
        <color rgba="0.85 0.85 0.85 1" />
      </material>
    </visual>
    <collision name="r_thumb_cmc_p_link_col">
      <geometry>
        <mesh filename="../meshes/robot_hands/m92u_hand/collision/r_thumb_cmc_p_link.stl" scale="1e-3 1e-3 1e-3" />
      </geometry>
    </collision>
    <inertial>
      <origin rpy="0.0 0.0 0.0" xyz="0.0037406309 6.2541125e-05 0.030701447" />
      <mass value="0.065849672" />
      <inertia ixx="2.342561e-05" ixy="1.0513129e-08" ixz="-1.2619558e-06" iyy="2.3436847e-05" iyz="-6.1471225e-09" izz="6.0738673e-06" />
    </inertial>
  </link>
  <joint name="r_thumb_cmc_p_joint" type="revolute">
    <parent link="r_thumb_cmc_y_link" />
    <child link="r_thumb_cmc_p_link" />
    <origin rpy="6.98131688888889e-09 1.0556553987442223 1.5707963" xyz="0.0 0.010222 -0.001249999" />
    <axis xyz="0 1 0" />
    <limit effort="10.0" lower="-0.9581857593448869" upper="0.0" velocity="1.0" />
    <dynamics damping="0.05" friction="0.2" />
  </joint>
  <link name="r_thumb_mcp_link">
    <visual name="r_thumb_mcp_link_vis">
      <geometry>
        <mesh filename="../meshes/robot_hands/m92u_hand/visual/r_thumb_mcp_link.stl" scale="1e-3 1e-3 1e-3" />
      </geometry>
      <material name="metal">
        <color rgba="0.85 0.85 0.85 1" />
      </material>
    </visual>
    <collision name="r_thumb_mcp_link_col">
      <geometry>
        <mesh filename="../meshes/robot_hands/m92u_hand/collision/r_thumb_mcp_link.stl" scale="1e-3 1e-3 1e-3" />
      </geometry>
    </collision>
    <inertial>
      <origin rpy="0.0 0.0 0.0" xyz="0.0041049624 0.00012475893 0.0068045785" />
      <mass value="0.020626252" />
      <inertia ixx="2.7725592e-06" ixy="3.2525504e-09" ixz="1.0813275e-07" iyy="2.4303458e-06" iyz="-1.4560537e-09" izz="1.844533e-06" />
    </inertial>
  </link>
  <joint name="r_thumb_mcp_joint" type="revolute">
    <parent link="r_thumb_cmc_p_link" />
    <child link="r_thumb_mcp_link" />
    <origin rpy="0.0 0.1292803752142889 0.0" xyz="0.0 0.0 0.061208" />
    <axis xyz="0 1 0" />
    <limit effort="10.0" lower="-1.2044394994965228" upper="0.0" velocity="1.0" />
    <dynamics damping="0.05" friction="0.2" />
    <mimic joint="r_thumb_cmc_p_joint" multiplier="1.257" offset="0" />
  </joint>
  <link name="r_thumb_ip_link">
    <visual name="r_thumb_ip_link_vis">
      <geometry>
        <mesh filename="../meshes/robot_hands/m92u_hand/visual/r_thumb_ip_link.stl" scale="1e-3 1e-3 1e-3" />
      </geometry>
      <material name="metal">
        <color rgba="0.85 0.85 0.85 1" />
      </material>
    </visual>
    <collision name="r_thumb_ip_link_col">
      <geometry>
        <mesh filename="../meshes/robot_hands/m92u_hand/collision/r_thumb_ip_link.stl" scale="1e-3 1e-3 1e-3" />
      </geometry>
    </collision>
    <inertial>
      <origin rpy="0.0 0.0 0.0" xyz="0.0023012779 5.1945218e-05 0.01155386" />
      <mass value="0.014682022" />
      <inertia ixx="1.7598268e-06" ixy="2.1216882e-10" ixz="1.7453019e-07" iyy="1.6243072e-06" iyz="5.4318299e-09" izz="5.5154865e-07" />
    </inertial>
  </link>
  <joint name="r_thumb_ip_joint" type="revolute">
    <parent link="r_thumb_mcp_link" />
    <child link="r_thumb_ip_link" />
    <origin rpy="0.0 0.030171506264555555 0.0" xyz="0.0 0.0 0.021998" />
    <axis xyz="0 1 0" />
    <limit effort="10.0" lower="-0.9668094311789909" upper="0.0" velocity="1.0" />
    <dynamics damping="0.05" friction="0.2" />
    <mimic joint="r_thumb_cmc_p_joint" multiplier="1.009" offset="0" />
  </joint>
  <link name="r_index_mcp_link">
    <visual name="r_index_mcp_link_vis">
      <geometry>
        <mesh filename="../meshes/robot_hands/m92u_hand/visual/r_index_mcp_link.stl" scale="1e-3 1e-3 1e-3" />
      </geometry>
      <material name="metal">
        <color rgba="0.85 0.85 0.85 1" />
      </material>
    </visual>
    <collision name="r_index_mcp_link_col">
      <geometry>
        <mesh filename="../meshes/robot_hands/m92u_hand/collision/r_index_mcp_link.stl" scale="1e-3 1e-3 1e-3" />
      </geometry>
    </collision>
    <inertial>
      <origin rpy="0 0 0" xyz="-0.0025630348 4.5144155e-05 0.015835538" />
      <mass value="0.019819477" />
      <inertia ixx="7.968542e-06" ixy="-2.0287697e-09" ixz="-1.8656552e-07" iyy="7.7945937e-06" iyz="-9.2239096e-09" izz="1.3645148e-06" />
    </inertial>
  </link>
  <joint name="r_index_mcp_joint" type="revolute">
    <parent link="r_hand_palm_link" />
    <child link="r_index_mcp_link" />
    <origin rpy="-0.05341929150455556 0.1994370248941111 -0.010576695086666667" xyz="-0.0098 0.03651 0.1371306" />
    <axis xyz="0 1 0" />
    <limit effort="10.0" lower="0.0" upper="1.509709802975095" velocity="1.0" />
    <dynamics damping="0.05" friction="0.2" />
  </joint>
  <link name="r_index_pip_link">
    <visual name="r_index_pip_link_vis">
      <geometry>
        <mesh filename="../meshes/robot_hands/m92u_hand/visual/r_index_pip_link.stl" scale="1e-3 1e-3 1e-3" />
      </geometry>
      <material name="metal">
        <color rgba="0.85 0.85 0.85 1" />
      </material>
    </visual>
    <collision name="r_index_pip_link_col">
      <geometry>
        <mesh filename="../meshes/robot_hands/m92u_hand/collision/r_index_pip_link.stl" scale="1e-3 1e-3 1e-3" />
      </geometry>
    </collision>
    <inertial>
      <origin rpy="0 0 0" xyz="-0.0034042799 4.7762295e-05 0.01800778" />
      <mass value="0.014898956" />
      <inertia ixx="4.0728035e-06" ixy="-4.5175385e-10" ixz="-1.3605185e-07" iyy="3.9952123e-06" iyz="7.1198886e-09" izz="5.2116681e-07" />
    </inertial>
  </link>
  <joint name="r_index_pip_joint" type="revolute">
    <parent link="r_index_mcp_link" />
    <child link="r_index_pip_link" />
    <origin rpy="0.0 0.05016320530757778 0.0" xyz="0.0 0.0 0.0310058" />
    <axis xyz="0 1 0" />
    <limit effort="10.0" lower="0.0" upper="1.486308428364355" velocity="1.0" />
    <dynamics damping="0.05" friction="0.2" />
    <mimic joint="r_index_mcp_joint" multiplier="0.9845" offset="0" />
  </joint>
  <link name="r_middle_mcp_link">
    <visual name="r_middle_mcp_link_vis">
      <geometry>
        <mesh filename="../meshes/robot_hands/m92u_hand/visual/r_middle_mcp_link.stl" scale="1e-3 1e-3 1e-3" />
      </geometry>
      <material name="metal">
        <color rgba="0.85 0.85 0.85 1" />
      </material>
    </visual>
    <collision name="r_middle_mcp_link_col">
      <geometry>
        <mesh filename="../meshes/robot_hands/m92u_hand/collision/r_middle_mcp_link.stl" scale="1e-3 1e-3 1e-3" />
      </geometry>
    </collision>
    <inertial>
      <origin rpy="0 0 0" xyz="-0.0025630348 4.5144155e-05 0.015835538" />
      <mass value="0.019819477" />
      <inertia ixx="7.968542e-06" ixy="-2.0287697e-09" ixz="-1.8656552e-07" iyy="7.7945937e-06" iyz="-9.2239096e-09" izz="1.3645148e-06" />
    </inertial>
  </link>
  <joint name="r_middle_mcp_joint" type="revolute">
    <parent link="r_hand_palm_link" />
    <child link="r_middle_mcp_link" />
    <origin rpy="0.0 0.19971453224044444 0.0" xyz="-0.0098 0.0110499 0.1382999" />
    <axis xyz="0 1 0" />
    <limit effort="10.0" lower="0.0" upper="1.509709802975095" velocity="1.0" />
    <dynamics damping="0.05" friction="0.2" />
  </joint>
  <link name="r_middle_pip_link">
    <visual name="r_middle_pip_link_vis">
      <geometry>
        <mesh filename="../meshes/robot_hands/m92u_hand/visual/r_middle_pip_link.stl" scale="1e-3 1e-3 1e-3" />
      </geometry>
      <material name="metal">
        <color rgba="0.85 0.85 0.85 1" />
      </material>
    </visual>
    <collision name="r_middle_pip_link_col">
      <geometry>
        <mesh filename="../meshes/robot_hands/m92u_hand/collision/r_middle_pip_link.stl" scale="1e-3 1e-3 1e-3" />
      </geometry>
    </collision>
    <inertial>
      <origin rpy="0 0 0" xyz="-0.0034042799 4.7762295e-05 0.01800778" />
      <mass value="0.014898956" />
      <inertia ixx="4.0728035e-06" ixy="-4.5175385e-10" ixz="-1.3605185e-07" iyy="3.9952123e-06" iyz="7.1198886e-09" izz="5.2116681e-07" />
    </inertial>
  </link>
  <joint name="r_middle_pip_joint" type="revolute">
    <parent link="r_middle_mcp_link" />
    <child link="r_middle_pip_link" />
    <origin rpy="0.0 0.05016320530757778 0.0" xyz="0.0 0.0 0.0310058" />
    <axis xyz="0 1 0" />
    <limit effort="10.0" lower="0.0" upper="1.486308428364355" velocity="1.0" />
    <dynamics damping="0.05" friction="0.2" />
    <mimic joint="r_middle_mcp_joint" multiplier="0.9845" offset="0" />
  </joint>
  <link name="r_ring_mcp_link">
    <visual name="r_ring_mcp_link_vis">
      <geometry>
        <mesh filename="../meshes/robot_hands/m92u_hand/visual/r_ring_mcp_link.stl" scale="1e-3 1e-3 1e-3" />
      </geometry>
      <material name="metal">
        <color rgba="0.85 0.85 0.85 1" />
      </material>
    </visual>
    <collision name="r_ring_mcp_link_col">
      <geometry>
        <mesh filename="../meshes/robot_hands/m92u_hand/collision/r_ring_mcp_link.stl" scale="1e-3 1e-3 1e-3" />
      </geometry>
    </collision>
    <inertial>
      <origin rpy="0 0 0" xyz="-0.0025630348 4.5144155e-05 0.015835538" />
      <mass value="0.019819477" />
      <inertia ixx="7.968542e-06" ixy="-2.0287697e-09" ixz="-1.8656552e-07" iyy="7.7945937e-06" iyz="-9.2239096e-09" izz="1.3645148e-06" />
    </inertial>
  </link>
  <joint name="r_ring_mcp_joint" type="revolute">
    <parent link="r_hand_palm_link" />
    <child link="r_ring_mcp_link" />
    <origin rpy="0.05341927405126334 0.1994370248941111 0.010592403049666667" xyz="-0.0098 -0.01446388 0.13813451" />
    <axis xyz="0 1 0" />
    <limit effort="10.0" lower="0.0" upper="1.509709802975095" velocity="1.0" />
    <dynamics damping="0.05" friction="0.2" />
  </joint>
  <link name="r_ring_pip_link">
    <visual name="r_ring_pip_link_vis">
      <geometry>
        <mesh filename="../meshes/robot_hands/m92u_hand/visual/r_ring_pip_link.stl" scale="1e-3 1e-3 1e-3" />
      </geometry>
      <material name="metal">
        <color rgba="0.85 0.85 0.85 1" />
      </material>
    </visual>
    <collision name="r_ring_pip_link_col">
      <geometry>
        <mesh filename="../meshes/robot_hands/m92u_hand/collision/r_ring_pip_link.stl" scale="1e-3 1e-3 1e-3" />
      </geometry>
    </collision>
    <inertial>
      <origin rpy="0 0 0" xyz="-0.0034042799 4.7762295e-05 0.01800778" />
      <mass value="0.014898956" />
      <inertia ixx="4.0728035e-06" ixy="-4.5175385e-10" ixz="-1.3605185e-07" iyy="3.9952123e-06" iyz="7.1198886e-09" izz="5.2116681e-07" />
    </inertial>
  </link>
  <joint name="r_ring_pip_joint" type="revolute">
    <parent link="r_ring_mcp_link" />
    <child link="r_ring_pip_link" />
    <origin rpy="0.0 0.05016320530757778 0.0" xyz="0.0 0.0 0.0310058" />
    <axis xyz="0 1 0" />
    <limit effort="10.0" lower="0.0" upper="1.486308428364355" velocity="1.0" />
    <dynamics damping="0.05" friction="0.2" />
    <mimic joint="r_ring_mcp_joint" multiplier="0.9845" offset="0" />
  </joint>
  <link name="r_pinky_mcp_link">
    <visual name="r_pinky_mcp_link_vis">
      <geometry>
        <mesh filename="../meshes/robot_hands/m92u_hand/visual/r_pinky_mcp_link.stl" scale="1e-3 1e-3 1e-3" />
      </geometry>
      <material name="metal">
        <color rgba="0.85 0.85 0.85 1" />
      </material>
    </visual>
    <collision name="r_pinky_mcp_link_col">
      <geometry>
        <mesh filename="../meshes/robot_hands/m92u_hand/collision/r_pinky_mcp_link.stl" scale="1e-3 1e-3 1e-3" />
      </geometry>
    </collision>
    <inertial>
      <origin rpy="0 0 0" xyz="-0.0025630348 4.5144155e-05 0.015835538" />
      <mass value="0.019819477" />
      <inertia ixx="7.968542e-06" ixy="-2.0287697e-09" ixz="-1.8656552e-07" iyy="7.7945937e-06" iyz="-9.2239096e-09" izz="1.3645148e-06" />
    </inertial>
  </link>
  <joint name="r_pinky_mcp_joint" type="revolute">
    <parent link="r_hand_palm_link" />
    <child link="r_pinky_mcp_link" />
    <origin rpy="0.1068141484 0.19860101219666665 0.021153390173333335" xyz="-0.0098 -0.0398034 0.13514012" />
    <axis xyz="0 1 0" />
    <limit effort="10.0" lower="0.0" upper="1.509709802975095" velocity="1.0" />
    <dynamics damping="0.05" friction="0.2" />
  </joint>
  <link name="r_pinky_pip_link">
    <visual name="r_pinky_pip_link_vis">
      <geometry>
        <mesh filename="../meshes/robot_hands/m92u_hand/visual/r_pinky_pip_link.stl" scale="1e-3 1e-3 1e-3" />
      </geometry>
      <material name="metal">
        <color rgba="0.85 0.85 0.85 1" />
      </material>
    </visual>
    <collision name="r_pinky_pip_link_col">
      <geometry>
        <mesh filename="../meshes/robot_hands/m92u_hand/collision/r_pinky_pip_link.stl" scale="1e-3 1e-3 1e-3" />
      </geometry>
    </collision>
    <inertial>
      <origin rpy="0 0 0" xyz="-0.0034042799 4.7762295e-05 0.01800778" />
      <mass value="0.014898956" />
      <inertia ixx="4.0728035e-06" ixy="-4.5175385e-10" ixz="-1.3605185e-07" iyy="3.9952123e-06" iyz="7.1198886e-09" izz="5.2116681e-07" />
    </inertial>
  </link>
  <joint name="r_pinky_pip_joint" type="revolute">
    <parent link="r_pinky_mcp_link" />
    <child link="r_pinky_pip_link" />
    <origin rpy="0.0 0.05016320530757778 0.0" xyz="0.0 0.0 0.0310058" />
    <axis xyz="0 1 0" />
    <limit effort="10.0" lower="0.0" upper="1.486308428364355" velocity="1.0" />
    <dynamics damping="0.05" friction="0.2" />
    <mimic joint="r_pinky_mcp_joint" multiplier="0.9845" offset="0" />
  </joint>
  <ros2_control name="r_hand_system" type="system">
    <hardware>
      <plugin>fake_components/GenericSystem</plugin>
    </hardware>
    <joint name="r_thumb_cmc_y_joint">
      <param name="initial_position">0.0</param>
      <command_interface name="position" />
      <state_interface name="position">
        <param name="initial_value">0.0</param>
      </state_interface>
      <state_interface name="velocity" />
      <state_interface name="effort" />
    </joint>
    <transmission name="r_thumb_cmc_y_transmission">
      <plugin>transmission_interface/SimpleTransmission</plugin>
      <joint name="r_thumb_cmc_y_joint" role="joint1">
        <mechanical_reduction>1.0</mechanical_reduction>
        <offset>0</offset>
      </joint>
      <actuator name="r_thumb_cmc_y_actuator" role="actuator1">
        <mechanical_reduction>1.0</mechanical_reduction>
        <offset>0</offset>
      </actuator>
    </transmission>
    <joint name="r_thumb_cmc_p_joint">
      <param name="initial_position">0.0</param>
      <command_interface name="position" />
      <state_interface name="position">
        <param name="initial_value">0.0</param>
      </state_interface>
      <state_interface name="velocity" />
      <state_interface name="effort" />
    </joint>
    <transmission name="r_thumb_cmc_p_transmission">
      <plugin>transmission_interface/SimpleTransmission</plugin>
      <joint name="r_thumb_cmc_p_joint" role="joint1">
        <mechanical_reduction>1.0</mechanical_reduction>
        <offset>0</offset>
      </joint>
      <actuator name="r_thumb_cmc_p_actuator" role="actuator1">
        <mechanical_reduction>1.0</mechanical_reduction>
        <offset>0</offset>
      </actuator>
    </transmission>
    <joint name="r_thumb_mcp_joint">
      <param name="initial_position">0.0</param>
      <param name="mimic">r_thumb_cmc_p_joint</param>
      <param name="multiplier">1</param>
      <command_interface name="position" />
      <state_interface name="position">
        <param name="initial_value">0.0</param>
      </state_interface>
      <state_interface name="velocity" />
      <state_interface name="effort" />
    </joint>
    <joint name="r_thumb_ip_joint">
      <param name="initial_position">0.0</param>
      <param name="mimic">r_thumb_cmc_p_joint</param>
      <param name="multiplier">1</param>
      <command_interface name="position" />
      <state_interface name="position">
        <param name="initial_value">0.0</param>
      </state_interface>
      <state_interface name="velocity" />
      <state_interface name="effort" />
    </joint>
    <joint name="r_index_mcp_joint">
      <param name="initial_position">0.0</param>
      <command_interface name="position" />
      <state_interface name="position">
        <param name="initial_value">0.0</param>
      </state_interface>
      <state_interface name="velocity" />
      <state_interface name="effort" />
    </joint>
    <transmission name="r_index_mcp_transmission">
      <plugin>transmission_interface/SimpleTransmission</plugin>
      <joint name="r_index_mcp_joint" role="joint1">
        <mechanical_reduction>1.0</mechanical_reduction>
        <offset>0</offset>
      </joint>
      <actuator name="r_index_mcp_actuator" role="actuator1">
        <mechanical_reduction>1.0</mechanical_reduction>
        <offset>0</offset>
      </actuator>
    </transmission>
    <joint name="r_index_pip_joint">
      <param name="initial_position">0.0</param>
      <param name="mimic">r_index_mcp_joint</param>
      <param name="multiplier">1</param>
      <command_interface name="position" />
      <state_interface name="position">
        <param name="initial_value">0.0</param>
      </state_interface>
      <state_interface name="velocity" />
      <state_interface name="effort" />
    </joint>
    <joint name="r_middle_mcp_joint">
      <param name="initial_position">0.0</param>
      <command_interface name="position" />
      <state_interface name="position">
        <param name="initial_value">0.0</param>
      </state_interface>
      <state_interface name="velocity" />
      <state_interface name="effort" />
    </joint>
    <transmission name="r_middle_mcp_transmission">
      <plugin>transmission_interface/SimpleTransmission</plugin>
      <joint name="r_middle_mcp_joint" role="joint1">
        <mechanical_reduction>1.0</mechanical_reduction>
        <offset>0</offset>
      </joint>
      <actuator name="r_middle_mcp_actuator" role="actuator1">
        <mechanical_reduction>1.0</mechanical_reduction>
        <offset>0</offset>
      </actuator>
    </transmission>
    <joint name="r_middle_pip_joint">
      <param name="initial_position">0.0</param>
      <param name="mimic">r_middle_mcp_joint</param>
      <param name="multiplier">1</param>
      <command_interface name="position" />
      <state_interface name="position">
        <param name="initial_value">0.0</param>
      </state_interface>
      <state_interface name="velocity" />
      <state_interface name="effort" />
    </joint>
    <joint name="r_pinky_mcp_joint">
      <param name="initial_position">0.0</param>
      <command_interface name="position" />
      <state_interface name="position">
        <param name="initial_value">0.0</param>
      </state_interface>
      <state_interface name="velocity" />
      <state_interface name="effort" />
    </joint>
    <transmission name="r_pinky_mcp_transmission">
      <plugin>transmission_interface/SimpleTransmission</plugin>
      <joint name="r_pinky_mcp_joint" role="joint1">
        <mechanical_reduction>1.0</mechanical_reduction>
        <offset>0</offset>
      </joint>
      <actuator name="r_pinky_mcp_actuator" role="actuator1">
        <mechanical_reduction>1.0</mechanical_reduction>
        <offset>0</offset>
      </actuator>
    </transmission>
    <joint name="r_pinky_pip_joint">
      <param name="initial_position">0.0</param>
      <param name="mimic">r_pinky_mcp_joint</param>
      <param name="multiplier">1</param>
      <command_interface name="position" />
      <state_interface name="position">
        <param name="initial_value">0.0</param>
      </state_interface>
      <state_interface name="velocity" />
      <state_interface name="effort" />
    </joint>
    <joint name="r_ring_mcp_joint">
      <param name="initial_position">0.0</param>
      <command_interface name="position" />
      <state_interface name="position">
        <param name="initial_value">0.0</param>
      </state_interface>
      <state_interface name="velocity" />
      <state_interface name="effort" />
    </joint>
    <transmission name="r_ring_mcp_transmission">
      <plugin>transmission_interface/SimpleTransmission</plugin>
      <joint name="r_ring_mcp_joint" role="joint1">
        <mechanical_reduction>1.0</mechanical_reduction>
        <offset>0</offset>
      </joint>
      <actuator name="r_ring_mcp_actuator" role="actuator1">
        <mechanical_reduction>1.0</mechanical_reduction>
        <offset>0</offset>
      </actuator>
    </transmission>
    <joint name="r_ring_pip_joint">
      <param name="initial_position">0.0</param>
      <param name="mimic">r_ring_mcp_joint</param>
      <param name="multiplier">1</param>
      <command_interface name="position" />
      <state_interface name="position">
        <param name="initial_value">0.0</param>
      </state_interface>
      <state_interface name="velocity" />
      <state_interface name="effort" />
    </joint>
  </ros2_control>
</robot>
